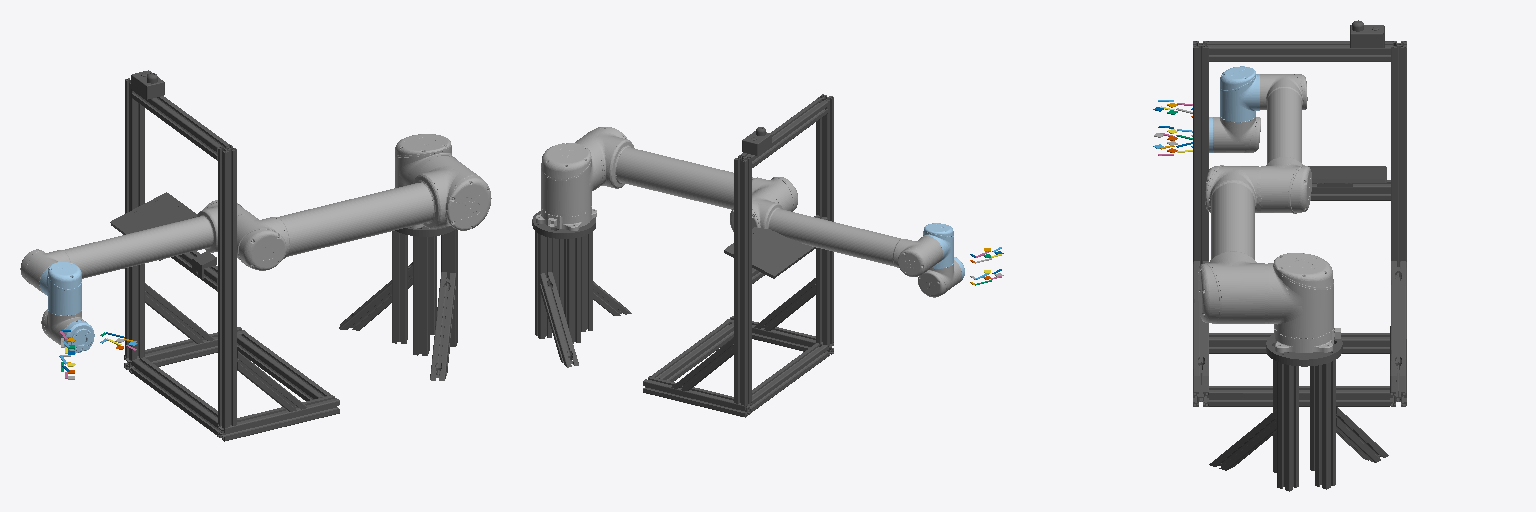
--- Facts derived from the render (not from the file) ---
Views: 3 orthographic renders of the robot side by side, from view 1: azimuth 30°, elevation 25°; view 2: azimuth 150°, elevation 25°; view 3: azimuth 270°, elevation 25°.
Model thing with 67 links and 66 joints (45 revolute, 4 continuous, 17 fixed), rooted at base_link, posed every joint at zero.
Visible links, largest first — view 1: arch_link, upper_arm_link, forearm_link, shoulder_link, wrist_1_link, wrist_3_link, wrist_2_link; view 2: arch_link, upper_arm_link, forearm_link, shoulder_link, wrist_2_link, wrist_1_link, ur10_base_link; view 3: arch_link, upper_arm_link, forearm_link, shoulder_link, wrist_1_link, wrist_2_link, ur10_base_link.
Link boxes in pixels (x1,y1,x2,y2): arch_link: (110, 70, 457, 441); upper_arm_link: (237, 156, 491, 270); forearm_link: (20, 200, 253, 292); shoulder_link: (395, 134, 456, 187); wrist_1_link: (40, 262, 81, 315); wrist_3_link: (62, 320, 94, 353); wrist_2_link: (41, 309, 85, 344); arch_link: (532, 94, 833, 417); upper_arm_link: (575, 127, 797, 211); forearm_link: (730, 191, 942, 276); shoulder_link: (541, 143, 602, 216); wrist_2_link: (918, 260, 961, 297); wrist_1_link: (921, 223, 953, 268); ur10_base_link: (535, 208, 596, 230); arch_link: (1193, 20, 1406, 491); upper_arm_link: (1198, 165, 1268, 323); forearm_link: (1257, 74, 1311, 213); shoulder_link: (1269, 253, 1333, 338); wrist_1_link: (1220, 66, 1259, 122); wrist_2_link: (1213, 117, 1260, 152); ur10_base_link: (1274, 328, 1340, 352).
Size in the robot's own frame: 1.39 by 0.6293 by 0.9 metres.
8 mesh visuals loaded from 21 distinct referenced files (1 binary STL, 7 OBJ); not drawn: 28 (reference not matched to a file when rendering).

robot.urdf — thing:
<?xml version="1.0" ?>
<!-- =================================================================================== -->
<!-- |    This document was autogenerated by xacro from ridgeback.urdf.xacro           | -->
<!-- |    EDITING THIS FILE BY HAND IS NOT RECOMMENDED                                 | -->
<!-- =================================================================================== -->
<robot name="thing" xmlns:xacro="http://ros.org/wiki/xacro">
  <material name="dark_grey">
    <color rgba="0.2 0.2 0.2 1.0"/>
  </material>
  <material name="light_grey">
    <color rgba="0.4 0.4 0.4 1.0"/>
  </material>
  <material name="red">
    <color rgba="0.8 0.0 0.0 1.0"/>
  </material>
  <material name="white">
    <color rgba="0.9 0.9 0.9 1.0"/>
  </material>
  <material name="yellow">
    <color rgba="0.8 0.8 0.0 1.0"/>
  </material>
  <material name="black">
    <color rgba="0.15 0.15 0.15 1.0"/>
  </material>

  <!-- Ridgeback wheels -->
  <link name="front_rocker_link">
    <visual>
      <origin rpy="1.57079632679 0 1.57079632679" xyz="0 0 0"/>
      <geometry>
        <mesh filename="assets/ridgeback_description/meshes/rocker.stl"/>
      </geometry>
      <material name="black"/>
    </visual>
    <inertial>
      <origin rpy="1.57079632679 0 1.57079632679" xyz="0 0 0"/>
      <mass value="10.267"/>
      <inertia ixx="0.0288" ixy="2.20484e-6" ixz="-1.3145e-5" iyy="0.4324" iyz="1.8944e-3" izz="0.4130"/>
    </inertial>
  </link>
  <joint name="front_rocker" type="fixed">
    <parent link="axle_link"/>
    <child link="front_rocker_link"/>
    <origin rpy="0 0 0" xyz="0.319 0 0"/>
    <axis xyz="1 0 0"/>
    <limit effort="0" lower="-0.08726" upper="0.08726" velocity="0"/>
  </joint>
  <link name="front_left_wheel_link">
    <contact>
      <lateral_friction value="1.0"/>
      <rolling_friction value="0.0"/>
      <stiffness value="30000"/>
      <damping value="10000"/>
    </contact>
    <inertial>
      <origin rpy="0 0 0" xyz="0 0 0"/>
      <mass value="2.637"/>
      <!--<inertia ixx="3.3212e-3" ixy="0" ixz="0" iyy="6.6424e-3" iyz="0" izz="3.3212e-3"/>-->
      <inertia ixx="0.02467" ixy="0" ixz="0" iyy="0.02467" iyz="0" izz="0.04411"/>
    </inertial>
    <visual>
      <origin rpy="1.57079632679 0 0" xyz="0 0 0"/>
      <geometry>
        <mesh filename="assets/ridgeback_description/meshes/wheel.stl"/>
      </geometry>
      <material name="black"/>
    </visual>
    <collision>
      <origin rpy="1.57079632679 0 0" xyz="0 0 0"/>
      <geometry>
        <cylinder length="0.079" radius="0.0759"/>
      </geometry>
    </collision>
  </link>
  <joint name="front_left_wheel" type="continuous">
    <parent link="front_rocker_link"/>
    <child link="front_left_wheel_link"/>
    <origin rpy="0 0 0" xyz="0 0.2755 0"/>
    <axis xyz="0 1 0"/>
  </joint>
  <transmission name="front_wheel_trans">
    <type>transmission_interface/SimpleTransmission</type>
    <joint name="front_left_wheel">
      <hardwareInterface>hardware_interface/VelocityJointInterface</hardwareInterface>
    </joint>
    <actuator name="front_left_actuator">
      <mechanicalReduction>1</mechanicalReduction>
    </actuator>
  </transmission>
  <link name="front_right_wheel_link">
    <contact>
      <lateral_friction value="1.0"/>
      <rolling_friction value="0.0"/>
      <stiffness value="30000"/>
      <damping value="10000"/>
    </contact>
    <inertial>
      <origin rpy="0 0 0" xyz="0 0 0"/>
      <mass value="2.637"/>
      <!--<inertia ixx="3.3212e-3" ixy="0" ixz="0" iyy="6.6424e-3" iyz="0" izz="3.3212e-3"/>-->
      <inertia ixx="0.02467" ixy="0" ixz="0" iyy="0.02467" iyz="0" izz="0.04411"/>
    </inertial>
    <visual>
      <origin rpy="1.57079632679 0 0" xyz="0 0 0"/>
      <geometry>
        <mesh filename="assets/ridgeback_description/meshes/wheel.stl"/>
      </geometry>
      <material name="black"/>
    </visual>
    <collision>
      <origin rpy="1.57079632679 0 0" xyz="0 0 0"/>
      <geometry>
        <cylinder length="0.079" radius="0.0759"/>
      </geometry>
    </collision>
  </link>
  <joint name="front_right_wheel" type="continuous">
    <parent link="front_rocker_link"/>
    <child link="front_right_wheel_link"/>
    <origin rpy="0 0 0" xyz="0 -0.2755 0"/>
    <axis xyz="0 1 0"/>
  </joint>
  <transmission name="front_wheel_trans">
    <type>transmission_interface/SimpleTransmission</type>
    <joint name="front_right_wheel">
      <hardwareInterface>hardware_interface/VelocityJointInterface</hardwareInterface>
    </joint>
    <actuator name="front_right_actuator">
      <mechanicalReduction>1</mechanicalReduction>
    </actuator>
  </transmission>
  <link name="rear_rocker_link">
    <visual>
      <origin rpy="1.57079632679 0 1.57079632679" xyz="0 0 0"/>
      <geometry>
        <mesh filename="assets/ridgeback_description/meshes/rocker.stl"/>
      </geometry>
      <material name="black"/>
    </visual>
    <inertial>
      <origin rpy="1.57079632679 0 1.57079632679" xyz="0 0 0"/>
      <mass value="10.267"/>
      <inertia ixx="0.0288" ixy="2.20484e-6" ixz="-1.3145e-5" iyy="0.4324" iyz="1.8944e-3" izz="0.4130"/>
    </inertial>
  </link>
  <joint name="rear_rocker" type="fixed">
    <parent link="axle_link"/>
    <child link="rear_rocker_link"/>
    <origin rpy="0 0 0" xyz="-0.319 0 0"/>
    <axis xyz="1 0 0"/>
    <limit effort="0" velocity="0"/>
  </joint>
  <link name="rear_left_wheel_link">
    <contact>
      <lateral_friction value="1.0"/>
      <rolling_friction value="0.0"/>
      <stiffness value="30000"/>
      <damping value="10000"/>
    </contact>
    <inertial>
      <origin rpy="0 0 0" xyz="0 0 0"/>
      <mass value="2.637"/>
      <!--<inertia ixx="3.3212e-3" ixy="0" ixz="0" iyy="6.6424e-3" iyz="0" izz="3.3212e-3"/>-->
      <inertia ixx="0.02467" ixy="0" ixz="0" iyy="0.02467" iyz="0" izz="0.04411"/>
    </inertial>
    <visual>
      <origin rpy="1.57079632679 0 0" xyz="0 0 0"/>
      <geometry>
        <mesh filename="assets/ridgeback_description/meshes/wheel.stl"/>
      </geometry>
      <material name="black"/>
    </visual>
    <collision>
      <origin rpy="1.57079632679 0 0" xyz="0 0 0"/>
      <geometry>
        <cylinder length="0.079" radius="0.0759"/>
      </geometry>
    </collision>
  </link>
  <joint name="rear_left_wheel" type="continuous">
    <parent link="rear_rocker_link"/>
    <child link="rear_left_wheel_link"/>
    <origin rpy="0 0 0" xyz="0 0.2755 0"/>
    <axis xyz="0 1 0"/>
  </joint>
  <transmission name="rear_wheel_trans">
    <type>transmission_interface/SimpleTransmission</type>
    <joint name="rear_left_wheel">
      <hardwareInterface>hardware_interface/VelocityJointInterface</hardwareInterface>
    </joint>
    <actuator name="rear_left_actuator">
      <mechanicalReduction>1</mechanicalReduction>
    </actuator>
  </transmission>
  <link name="rear_right_wheel_link">
    <contact>
      <lateral_friction value="1.0"/>
      <rolling_friction value="0.0"/>
      <stiffness value="30000"/>
      <damping value="10000"/>
    </contact>
    <inertial>
      <origin rpy="0 0 0" xyz="0 0 0"/>
      <mass value="2.637"/>
      <!--<inertia ixx="3.3212e-3" ixy="0" ixz="0" iyy="6.6424e-3" iyz="0" izz="3.3212e-3"/>-->
      <inertia ixx="0.02467" ixy="0" ixz="0" iyy="0.02467" iyz="0" izz="0.04411"/>
    </inertial>
    <visual>
      <origin rpy="1.57079632679 0 0" xyz="0 0 0"/>
      <geometry>
        <mesh filename="assets/ridgeback_description/meshes/wheel.stl"/>
      </geometry>
      <material name="black"/>
    </visual>
    <collision>
      <origin rpy="1.57079632679 0 0" xyz="0 0 0"/>
      <geometry>
        <cylinder length="0.079" radius="0.0759"/>
      </geometry>
    </collision>
  </link>
  <joint name="rear_right_wheel" type="continuous">
    <parent link="rear_rocker_link"/>
    <child link="rear_right_wheel_link"/>
    <origin rpy="0 0 0" xyz="0 -0.2755 0"/>
    <axis xyz="0 1 0"/>
  </joint>
  <transmission name="rear_wheel_trans">
    <type>transmission_interface/SimpleTransmission</type>
    <joint name="rear_right_wheel">
      <hardwareInterface>hardware_interface/VelocityJointInterface</hardwareInterface>
    </joint>
    <actuator name="rear_right_actuator">
      <mechanicalReduction>1</mechanicalReduction>
    </actuator>
  </transmission>
  <link name="base_link"/>
  <joint name="base_link_joint" type="fixed">
    <origin rpy="0 0 0" xyz="0 0 0"/>
    <parent link="base_link"/>
    <child link="chassis_link"/>
  </joint>
  <link name="chassis_link">
    <visual>
      <origin rpy="0 0 0" xyz="0 0 0"/>
      <geometry>
        <mesh filename="assets/ridgeback_description/meshes/body.stl"/>
      </geometry>
      <material name="black"/>
    </visual>
    <collision>
      <origin xyz="0 0 0"/>
      <geometry>
        <mesh filename="assets/ridgeback_description/meshes/body-collision.stl"/>
      </geometry>
    </collision>
    <inertial>
      <origin rpy="1.57079632679 0 1.57079632679" xyz="0.012 0.002 0.067"/>
      <mass value="165.304"/>
      <inertia ixx="4.4744" ixy="0.03098" ixz="0.003647" iyy="7.1624" iyz="0.1228" izz="4.6155"/>
    </inertial>
  </link>
  <joint name="right_side_cover_link_joint" type="fixed">
    <origin rpy="0 0 0" xyz="0 0 0"/>
    <parent link="chassis_link"/>
    <child link="right_side_cover_link"/>
  </joint>
  <joint name="left_side_cover_link_joint" type="fixed">
    <origin rpy="0 0 0" xyz="0 0 0"/>
    <parent link="chassis_link"/>
    <child link="left_side_cover_link"/>
  </joint>
  <link name="left_side_cover_link">
    <visual>
      <origin rpy="0 0 3.14159265359" xyz="0 0 0"/>
      <geometry>
        <mesh filename="assets/ridgeback_description/meshes/side-cover.stl"/>
      </geometry>
      <material name="yellow"/>
    </visual>
  </link>
  <link name="right_side_cover_link">
    <visual>
      <origin rpy="0 0 0" xyz="0 0 0"/>
      <geometry>
        <mesh filename="assets/ridgeback_description/meshes/side-cover.stl"/>
      </geometry>
      <material name="yellow"/>
    </visual>
  </link>
  <joint name="front_cover_link_joint" type="fixed">
    <origin rpy="0 0 0" xyz="0 0 0"/>
    <parent link="chassis_link"/>
    <child link="front_cover_link"/>
  </joint>
  <link name="front_cover_link">
    <visual>
      <origin rpy="0 0 0" xyz="0 0 0"/>
      <geometry>
        <mesh filename="assets/ridgeback_description/meshes/end-cover.stl"/>
      </geometry>
      <material name="black"/>
    </visual>
  </link>
  <joint name="rear_cover_link_joint" type="fixed">
    <origin rpy="0 0 0" xyz="0 0 0"/>
    <parent link="chassis_link"/>
    <child link="rear_cover_link"/>
  </joint>
  <link name="rear_cover_link">
    <visual>
      <origin rpy="0 0 3.14159265359" xyz="0 0 0"/>
      <geometry>
        <mesh filename="assets/ridgeback_description/meshes/end-cover.stl"/>
      </geometry>
      <material name="black"/>
    </visual>
  </link>
  <joint name="front_lights_link_joint" type="fixed">
    <origin rpy="0 0 0" xyz="0 0 0"/>
    <parent link="chassis_link"/>
    <child link="front_lights_link"/>
  </joint>
  <joint name="rear_lights_link_joint" type="fixed">
    <origin rpy="0 0 0" xyz="0 0 0"/>
    <parent link="chassis_link"/>
    <child link="rear_lights_link"/>
  </joint>
  <link name="front_lights_link">
    <visual>
      <origin rpy="0 0 0" xyz="0 0 0"/>
      <geometry>
        <mesh filename="assets/ridgeback_description/meshes/lights.stl"/>
      </geometry>
      <material name="white"/>
    </visual>
  </link>
  <link name="rear_lights_link">
    <visual>
      <origin rpy="0 0 3.14159265359" xyz="0 0 0"/>
      <geometry>
        <mesh filename="assets/ridgeback_description/meshes/lights.stl"/>
      </geometry>
      <material name="red"/>
    </visual>
  </link>
  <joint name="top_link_joint" type="fixed">
    <origin rpy="0 0 0" xyz="0 0 0"/>
    <parent link="chassis_link"/>
    <child link="top_link"/>
  </joint>
  <link name="top_link">
    <visual>
      <origin rpy="0 0 0" xyz="0 0 0"/>
      <geometry>
        <mesh filename="assets/ridgeback_description/meshes/top.stl"/>
      </geometry>
      <material name="black"/>
    </visual>
    <collision>
      <origin rpy="0 0 0" xyz="0 0 0"/>
      <geometry>
        <mesh filename="assets/ridgeback_description/meshes/top.stl"/>
      </geometry>
    </collision>
  </link>
  <joint name="axle_joint" type="fixed">
    <origin rpy="0 0 0" xyz="0 0 0.05"/>
    <parent link="chassis_link"/>
    <child link="axle_link"/>
  </joint>
  <link name="axle_link">
    <visual>
      <origin rpy="0 1.57079632679 0" xyz="0 0 0"/>
      <geometry>
        <mesh filename="assets/ridgeback_description/meshes/axle.stl"/>
      </geometry>
      <material name="black"/>
    </visual>
  </link>
  <link name="imu_link">
    <inertial>
      <mass value="0.001"/>
      <origin rpy="0 0 0" xyz="0 0 0"/>
      <inertia ixx="1e-09" ixy="0.0" ixz="0.0" iyy="1e-09" iyz="0.0" izz="1e-09"/>
    </inertial>
  </link>
  <joint name="imu_joint" type="fixed">
    <parent link="chassis_link"/>
    <child link="imu_link"/>
    <origin rpy="0 0 0" xyz="0.2085 -0.2902 0.1681"/>
  </joint>
  <link name="mid_mount"/>
  <joint name="mid_mount_joint" type="fixed">
    <parent link="base_link"/>
    <child link="mid_mount"/>
    <origin rpy="0 0 0" xyz="0 0 0.28"/>
  </joint>

  <link name="arch_link">
  <visual>
    <origin rpy="1.570795 0 0" xyz="0.0 0.0 0.0"/>
    <geometry>
      <mesh filename="assets/ridgeback_description/meshes/tor11_mech.stl" />
    </geometry>
    <material name="light_grey"/>
  </visual>
  <collision>
    <origin rpy="1.570795 0 0" xyz="0.0 0.0 0.0"/>
    <geometry>
      <mesh filename="assets/ridgeback_description/meshes/tor11_mech.stl" />
    </geometry>
  </collision>
 </link>

<joint name="arch_joint" type="fixed">
  <origin xyz="0 0 0.278" rpy="0 0 1.57" />
  <parent link="top_link" />
  <child link="arch_link" />
</joint>

<!-- Join arm and arch link -->
<joint name="ur10_arm_base" type="fixed">
  <parent link="arch_link" />
  <child link="ur10_base_link" />
  <origin xyz="0.01 -0.27 0.375" rpy="0.0 0.0 1.570796" />
</joint>

<!-- common stuff -->
<material name="blackish">
  <color rgba="0.2 0.2 0.2 1"/>
</material>
<material name="LightGrey">
  <color rgba="0.7 0.7 0.7 1.0"/>
</material>
<material name="LightBlue">
  <color rgba="0.670 0.815 0.921 1.0"/>
</material>

<link name="ur10_base_link">
  <visual>
    <origin xyz="0 0 0" rpy="1.57 0 0"/>
    <geometry>
      <mesh filename="assets/ur_description/meshes/ur10/visual/Base.obj"/>
    </geometry>
    <material name="LightGrey"/>
  </visual>
  <collision>
    <geometry>
      <mesh filename="assets/ur_description/meshes/ur10/collision/base.stl"/>
    </geometry>
  </collision>
  <inertial>
    <mass value="4.0"/>
    <origin rpy="0 0 0" xyz="0.0 0.0 0.0"/>
    <inertia ixx="0.0061063308908" ixy="0.0" ixz="0.0" iyy="0.0061063308908" iyz="0.0" izz="0.01125"/>
  </inertial>
</link>
<joint name="shoulder_pan_joint" type="revolute">
  <parent link="ur10_base_link"/>
  <child link="shoulder_link"/>
  <origin rpy="0.0 0.0 0.0" xyz="0.0 0.0 0.1273"/>
  <axis xyz="0 0 1"/>
  <limit effort="330.0" lower="-6.2831853" upper="6.2831853" velocity="2.16"/>
  <dynamics damping="0.0" friction="0.0"/>
</joint>
<link name="shoulder_link">
  <visual>
    <origin xyz="0 0 0" rpy="1.57 0 0"/>
    <geometry>
      <mesh filename="assets/ur_description/meshes/ur10/visual/Shoulder.obj"/>
    </geometry>
    <material name="LightGrey"/>
  </visual>
  <collision>
    <geometry>
      <mesh filename="assets/ur_description/meshes/ur10/collision/shoulder.stl"/>
    </geometry>
  </collision>
  <inertial>
    <mass value="7.778"/>
    <origin rpy="0 0 0" xyz="0.0 0.0 0.0"/>
    <inertia ixx="0.0314743125769" ixy="0.0" ixz="0.0" iyy="0.0314743125769" iyz="0.0" izz="0.021875625"/>
  </inertial>
</link>
<joint name="shoulder_lift_joint" type="revolute">
  <parent link="shoulder_link"/>
  <child link="upper_arm_link"/>
  <origin rpy="0.0 1.570796325 0.0" xyz="0.0 0.220941 0.0"/>
  <axis xyz="0 1 0"/>
  <limit effort="330.0" lower="-6.2831853" upper="6.2831853" velocity="2.16"/>
  <dynamics damping="0.0" friction="0.0"/>
</joint>
<link name="upper_arm_link">
  <visual>
    <origin xyz="0 0 0" rpy="1.57 0 0"/>
    <geometry>
      <mesh filename="assets/ur_description/meshes/ur10/visual/UpperArm.obj"/>
    </geometry>
    <material name="LightGrey"/>
  </visual>
  <collision>
    <geometry>
      <mesh filename="assets/ur_description/meshes/ur10/collision/upper_arm.stl"/>
    </geometry>
  </collision>
  <inertial>
    <mass value="12.93"/>
    <origin rpy="0 0 0" xyz="0.0 0.0 0.306"/>
    <inertia ixx="0.421753803798" ixy="0.0" ixz="0.0" iyy="0.421753803798" iyz="0.0" izz="0.036365625"/>
  </inertial>
</link>
<joint name="elbow_joint" type="revolute">
  <parent link="upper_arm_link"/>
  <child link="forearm_link"/>
  <origin rpy="0.0 0.0 0.0" xyz="0.0 -0.1719 0.612"/>
  <axis xyz="0 1 0"/>
  <limit effort="150.0" lower="-6.2831853" upper="6.2831853" velocity="3.15"/>
  <dynamics damping="0.0" friction="0.0"/>
</joint>
<link name="forearm_link">
  <visual>
    <origin xyz="0 0 0" rpy="1.57 0 0"/>
    <geometry>
      <mesh filename="assets/ur_description/meshes/ur10/visual/Forearm.obj"/>
    </geometry>
    <material name="LightGrey"/>
  </visual>
  <collision>
    <geometry>
      <mesh filename="assets/ur_description/meshes/ur10/collision/forearm.stl"/>
    </geometry>
  </collision>
  <inertial>
    <mass value="3.87"/>
    <origin rpy="0 0 0" xyz="0.0 0.0 0.28615"/>
    <inertia ixx="0.111069694097" ixy="0.0" ixz="0.0" iyy="0.111069694097" iyz="0.0" izz="0.010884375"/>
  </inertial>
</link>
<joint name="wrist_1_joint" type="revolute">
  <parent link="forearm_link"/>
  <child link="wrist_1_link"/>
  <origin rpy="0.0 1.570796325 0.0" xyz="0.0 0.0 0.5723"/>
  <axis xyz="0 1 0"/>
  <limit effort="54.0" lower="-6.2831853" upper="6.2831853" velocity="3.2"/>
  <dynamics damping="0.0" friction="0.0"/>
</joint>
<link name="wrist_1_link">
  <visual>
    <origin xyz="0 0 0" rpy="1.57 0 0"/>
    <geometry>
      <mesh filename="assets/ur_description/meshes/ur10/visual/Wrist1.obj"/>
    </geometry>
    <material name="LightBlue"/>
  </visual>
  <collision>
    <geometry>
      <mesh filename="assets/ur_description/meshes/ur10/collision/wrist_1.stl"/>
    </geometry>
  </collision>
  <inertial>
    <mass value="1.96"/>
    <origin rpy="0 0 0" xyz="0.0 0.0 0.0"/>
    <inertia ixx="0.0051082479567" ixy="0.0" ixz="0.0" iyy="0.0051082479567" iyz="0.0" izz="0.0055125"/>
  </inertial>
</link>
<joint name="wrist_2_joint" type="revolute">
  <parent link="wrist_1_link"/>
  <child link="wrist_2_link"/>
  <origin rpy="0.0 0.0 0.0" xyz="0.0 0.1149 0.0"/>
  <axis xyz="0 0 1"/>
  <limit effort="54.0" lower="-6.2831853" upper="6.2831853" velocity="3.2"/>
  <dynamics damping="0.0" friction="0.0"/>
</joint>
<link name="wrist_2_link">
  <visual>
    <origin xyz="0 0 0" rpy="1.57 0 0"/>
    <geometry>
      <mesh filename="assets/ur_description/meshes/ur10/visual/Wrist2.obj"/>
    </geometry>
    <material name="LightGrey"/>
  </visual>
  <collision>
    <geometry>
      <mesh filename="assets/ur_description/meshes/ur10/collision/wrist_2.stl"/>
    </geometry>
  </collision>
  <inertial>
    <mass value="1.96"/>
    <origin rpy="0 0 0" xyz="0.0 0.0 0.0"/>
    <inertia ixx="0.0051082479567" ixy="0.0" ixz="0.0" iyy="0.0051082479567" iyz="0.0" izz="0.0055125"/>
  </inertial>
</link>
<joint name="wrist_3_joint" type="revolute">
  <parent link="wrist_2_link"/>
  <child link="wrist_3_link"/>
  <origin rpy="0.0 0.0 0.0" xyz="0.0 0.0 0.1157"/>
  <axis xyz="0 1 0"/>
  <limit effort="54.0" lower="-6.2831853" upper="6.2831853" velocity="3.2"/>
  <dynamics damping="0.0" friction="0.0"/>
</joint>
<link name="wrist_3_link">
  <visual>
    <origin xyz="0 0 0" rpy="1.57 0 0"/>
    <geometry>
      <mesh filename="assets/ur_description/meshes/ur10/visual/Wrist3.obj"/>
    </geometry>
    <material name="LightBlue"/>
  </visual>
  <collision>
    <geometry>
      <mesh filename="assets/ur_description/meshes/ur10/collision/wrist_3.stl"/>
    </geometry>
  </collision>
  <inertial>
    <mass value="0.202"/>
    <origin rpy="0 0 0" xyz="0.0 0.0 0.0"/>
    <inertia ixx="0.000526462289415" ixy="0.0" ixz="0.0" iyy="0.000526462289415" iyz="0.0" izz="0.000568125"/>
  </inertial>
</link>
<joint name="ee_fixed_joint" type="fixed">
  <parent link="wrist_3_link"/>
  <child link="ee_link"/>
  <origin rpy="0.0 0.0 0.0" xyz="0.0 0.0922 0.0"/>
</joint>
<link name="ee_link">
  <collision>
    <geometry>
      <box size="0.01 0.01 0.01"/>
    </geometry>
    <origin rpy="0 0 0" xyz="-0.01 0 0"/>
  </collision>
</link>

<!-- Gripper -->
  <joint name="robotiq_hand_joint" type="fixed">
   <x>4.5&gt;</x> 
   <parent link="ee_link"/> 
    <child link="palm"/>
  </joint>
  <!-- Insert the fingers -->
  <!-- Link list -->
  <!-- Link 0 -->
  <link name="finger_1_link_0">
    <visual>
      <origin rpy="0 0 0" xyz="0 0 0"/>
      <geometry>
        <mesh filename="package://robotiq_s_model_visualization/meshes/s-model_articulated/visual/link_0.STL"/>
      </geometry>
      <material name="green">
        <color rgba="0 1 0 1"/>
      </material>
    </visual>
    <collision>
      <origin rpy="0 0 0" xyz="0 0 0"/>
      <geometry>
        <mesh filename="package://robotiq_s_model_visualization/meshes/s-model_articulated/collision/link_0.STL"/>
      </geometry>
      <material name="yellow">
        <color rgba="0 1 1 1"/>
      </material>
    </collision>
    <inertial>
      <mass value="0.1"/>
      <origin xyz="-0.01 0 0"/>
      <inertia ixx="0.000018" ixy="0" ixz="0" iyy="0.000025" iyz="0" izz="0.000025"/>
    </inertial>
  </link>
  <gazebo reference="finger_1_link_0">
    <mu1>1.1</mu1>
    <mu2>1.1</mu2>
  </gazebo>
  <!-- Link 1 -->
  <link name="finger_1_link_1">
    <visual>
      <origin rpy="0 0 1.5708" xyz="0 0.05717 0"/>
      <geometry>
        <mesh filename="package://robotiq_s_model_visualization/meshes/s-model_articulated/visual/link_1.STL"/>
      </geometry>
      <material name="green"/>
    </visual>
    <collision>
      <origin rpy="0 0 1.5708" xyz="0 0.05717 0"/>
      <geometry>
        <mesh filename="package://robotiq_s_model_visualization/meshes/s-model_articulated/collision/link_1.STL"/>
      </geometry>
      <material name="yellow">
        <color rgba="0 1 1 1"/>
      </material>
    </collision>
    <inertial>
      <origin rpy="0 0 1.5708" xyz="0.00053 0.03218 0"/>
      <mass value="0.047"/>
      <inertia ixx="0.00000499332" ixy="0.00000091312" ixz="-0.00000000120" iyy="0.00006434531" iyz="-0.00000000007" izz="0.00006061917"/>
    </inertial>
  </link>
  <gazebo reference="finger_1_link_1">
    <mu1>1.1</mu1>
    <mu2>1.1</mu2>
  </gazebo>
  <!-- Link 2 -->
  <link name="finger_1_link_2">
    <visual>
      <origin rpy="0 0 1.5708" xyz="0 0.03810 0.0075"/>
      <geometry>
        <mesh filename="package://robotiq_s_model_visualization/meshes/s-model_articulated/visual/link_2.STL"/>
      </geometry>
      <material name="green"/>
    </visual>
    <collision>
      <origin rpy="0 0 1.5708" xyz="0 0.03810 0.0075"/>
      <geometry>
        <mesh filename="package://robotiq_s_model_visualization/meshes/s-model_articulated/collision/link_2.STL"/>
      </geometry>
      <material name="yellow"/>
    </collision>
    <inertial>
      <origin rpy="0 0 1.5708" xyz="0.00048 0.02167 0.00018"/>
      <mass value="0.03284"/>
      <inertia ixx="0.00000348008" ixy="0.00000031940" ixz="0.00000013041" iyy="0.00002248123" iyz="0.00000000291" izz="0.00001986346"/>
    </inertial>
  </link>
  <gazebo reference="finger_1_link_2">
    <mu1>1.1</mu1>
    <mu2>1.1</mu2>
  </gazebo>
  <!-- Link 3 -->
  <link name="finger_1_link_3">
    <visual>
      <origin rpy="0 0 0" xyz="0 0 0"/>
      <geometry>
        <mesh filename="package://robotiq_s_model_visualization/meshes/s-model_articulated/visual/link_3.STL"/>
      </geometry>
      <material name="green"/>
    </visual>
    <collision>
      <origin rpy="0 0 0" xyz="0 0 0"/>
      <geometry>
        <mesh filename="package://robotiq_s_model_visualization/meshes/s-model_articulated/collision/link_3.STL"/>
      </geometry>
      <material name="yellow"/>
    </collision>
    <inertial>
      <origin rpy="0 0 0" xyz="0.01626 0.00049 0.0002"/>
      <mass value="0.03354"/>
      <inertia ixx="0.00000305151" ixy="0.00000089792" ixz="0.00000000249" iyy="0.00001427978" iyz="-0.00000001191" izz="0.00001264126"/>
    </inertial>
  </link>
  <gazebo reference="finger_1_link_3">
    <mu1>1.1</mu1>
    <mu2>1.1</mu2>
  </gazebo>
  <!-- Link proximal actuating hinge -->
  <link name="finger_1_link_proximal_actuating_hinge">
    <visual>
      <origin rpy="0 0 0" xyz="0.01429 0 0"/>
      <geometry>
        <box size="0.02858 .0075 .002"/>
      </geometry>
    </visual>
    <collision>
      <origin rpy="0 0 0" xyz="0.01429 0 0"/>
      <geometry>
        <box size="0.02858 .0075 .002"/>
      </geometry>
    </collision>
    <inertial>
      <origin rpy="0 0 0" xyz="0.0012 -0.00162 -0.00161"/>
      <mass value="0.02647"/>
      <inertia ixx="0.00000156447" ixy="0.000000236226" ixz="-0.00000014862" iyy="0.00000221068" iyz="-0.00000014369" izz="0.00000323175"/>
    </inertial>
  </link>
  <gazebo reference="finger_1_link_proximal_actuating_hinge">
    <mu1>1.1</mu1>
    <mu2>1.1</mu2>
  </gazebo>
  <!-- Link paraproximal actuating hinge -->
  <link name="finger_1_link_paraproximal_actuating_hinge">
    <visual>
      <origin rpy="0 0 0" xyz="0.01143 0 0"/>
      <geometry>
        <box size="0.02286 .0075 .002"/>
      </geometry>
    </visual>
    <collision>
      <origin rpy="0 0 0" xyz="0.01143 0 0"/>
      <geometry>
        <box size="0.02286 .0075 .002"/>
      </geometry>
    </collision>
    <inertial>
      <origin rpy="0 0 0" xyz="0.0064 0 0"/>
      <!-- copied from proximal_actuating_hinge -->
      <mass value="0.00362"/>
      <inertia ixx="0.00000012043" ixy="0" ixz="0" iyy="0.00000053588" iyz="0" izz="0.00000065322"/>
    </inertial>
  </link>
  <gazebo reference="finger_1_link_paraproximal_actuating_hinge">
    <mu1>1.1</mu1>
    <mu2>1.1</mu2>
  </gazebo>
  <!-- Link proximal actuating bar -->
  <link name="finger_1_link_proximal_actuating_bar">
    <visual>
      <origin rpy="0 0 0" xyz="0.026789 0 0"/>
      <geometry>
        <box size="0.05398 .0075 .002"/>
      </geometry>
    </visual>
    <collision>
      <origin rpy="0 0 0" xyz="0.026789 0 0"/>
      <geometry>
        <box size="0.05398 .0075 .002"/>
      </geometry>
    </collision>
    <inertial>
      <origin rpy="0 0 0" xyz="0.02699 -0.00122 0"/>
      <mass value="0.00659"/>
      <inertia ixx="0.00000008348" ixy="-0.0000002179" ixz="0.00000000134" iyy="0.00000719076" iyz="0" izz="0.00000718272"/>
    </inertial>
  </link>
  <gazebo reference="finger_1_link_proximal_actuating_bar">
    <mu1>1.1</mu1>
    <mu2>1.1</mu2>
  </gazebo>
  <!-- Link paraproximal bar -->
  <link name="finger_1_link_paraproximal_bar">
    <visual>
      <origin rpy="0 0 0" xyz="0.02885 0 0"/>
      <geometry>
        <box size="0.05770 .0075 .002"/>
      </geometry>
    </visual>
    <collision>
      <origin rpy="0 0 0" xyz="0.02885 0 0"/>
      <geometry>
        <box size="0.05770 .0075 .002"/>
      </geometry>
    </collision>
    <inertial>
      <origin rpy="0 0 0" xyz="0.02858 -0.00129 0"/>
      <mass value="0.00732"/>
      <inertia ixx="0.00000009065" ixy="-0.00000027047" ixz="0.00000000142" iyy="0.00000878034" iyz="0" izz="0.00000877558"/>
    </inertial>
  </link>
  <gazebo reference="finger_1_link_paraproximal_bar">
    <mu1>1.1</mu1>
    <mu2>1.1</mu2>
  </gazebo>
  <!-- Link median actuating hinge -->
  <link name="finger_1_link_median_actuating_hinge">
    <visual>
      <origin rpy="0 0 0" xyz="0 0 0"/>
      <geometry>
        <box size=".02 .02 .002"/>
      </geometry>
    </visual>
    <collision>
      <origin rpy="0 0 0" xyz="0 0 0"/>
      <geometry>
        <box size=".02 .02 .002"/>
      </geometry>
    </collision>
    <inertial>
      <origin rpy="0 0 0" xyz="0.0092 0.00514 0"/>
      <mass value="0.00359"/>
      <inertia ixx="0.00000024735" ixy="0.00000023619" ixz="0" iyy="0.00000047681" iyz="0" izz="0.00000071813"/>
    </inertial>
  </link>
  <gazebo reference="finger_1_link_median_actuating_hinge">
    <mu1>1.1</mu1>
    <mu2>1.1</mu2>
  </gazebo>
  <!-- Link median bar -->
  <link name="finger_1_link_median_bar">
    <visual>
      <origin rpy="0 0 0" xyz="0.01905 0 0"/>
      <geometry>
        <box size="0.0381 .0075 .002"/>
      </geometry>
    </visual>
    <collision>
      <origin rpy="0 0 0" xyz="0.01905 0 0"/>
      <geometry>
        <box size="0.0381 .0075 .002"/>
      </geometry>
    </collision>
    <inertial>
      <origin rpy="0 0 0" xyz="0.01905 -0.00107 0"/>
      <mass value="0.00538"/>
      <inertia ixx="0.00000006639" ixy="-0.00000010996" ixz="0.00000000094" iyy="0.00000305318" iyz="0" izz="0.00000304657"/>
    </inertial>
  </link>
  <gazebo reference="finger_1_link_median_bar">
    <mu1>1.1</mu1>
    <mu2>1.1</mu2>
  </gazebo>
  <!-- Link paramedian hinge -->
  <link name="finger_1_link_paramedian_hinge">
    <visual>
      <origin rpy="0 0 0" xyz="0 0 0"/>
      <geometry>
        <box size=".02 .02 .002"/>
      </geometry>
    </visual>
    <collision>
      <origin rpy="0 0 0" xyz="0 0 0"/>
      <geometry>
        <box size=".02 .02 .002"/>
      </geometry>
    </collision>
    <inertial>
      <origin rpy="0 0 0" xyz="-0.01025 0.00046 0"/>
      <mass value="0.00276"/>
      <inertia ixx="0.00000004213" ixy="-0.00000001491" ixz="0" iyy="0.00000050258" iyz="0" izz="0.00000054007"/>
    </inertial>
  </link>
  <gazebo reference="finger_1_link_paramedian_hinge">
    <mu1>1.1</mu1>
    <mu2>1.1</mu2>
  </gazebo>
  <!-- Link median bar underactuated -->
  <link name="finger_1_link_median_bar_underactuated">
    <visual>
      <origin rpy="0 0 0" xyz="0.01905 0 0"/>
      <geometry>
        <box size="0.0381 .0075 .002"/>
      </geometry>
    </visual>
    <collision>
      <origin rpy="0 0 0" xyz="0.01905 0 0"/>
      <geometry>
        <box size="0.0381 .0075 .002"/>
      </geometry>
    </collision>
    <inertial>
      <origin rpy="0 0 0" xyz="0.01905 -0.00107 0"/>
      <mass value="0.00538"/>
      <inertia ixx="0.00000006639" ixy="-0.00000010996" ixz="-0.00000000094" iyy="0.00000305318" iyz="0" izz="0.00000304657"/>
    </inertial>
  </link>
  <gazebo reference="finger_1_link_median_bar_underactuated">
    <mu1>1.1</mu1>
    <mu2>1.1</mu2>
  </gazebo>
  <!-- Link paradistal hinge -->
  <link name="finger_1_link_paradistal_hinge">
    <visual>
      <origin rpy="0 0 0" xyz="0 0 0"/>
      <geometry>
        <box size=".02 .02 .002"/>
      </geometry>
    </visual>
    <collision>
      <origin rpy="0 0 0" xyz="0 0 0"/>
      <geometry>
        <box size=".02 0.02 .002"/>
      </geometry>
    </collision>
    <inertial>
      <origin rpy="0 0 0" xyz="0.00548 0 0"/>
      <mass value="0.00158"/>
      <inertia ixx="0.00000001907" ixy="0" ixz="0" iyy="0.00000010970" iyz="0" izz="0.00000012610"/>
    </inertial>
  </link>
  <gazebo reference="finger_1_link_paradistal_hinge">
    <mu1>1.1</mu1>
    <mu2>1.1</mu2>
  </gazebo>
  <!-- End of link list -->
  <!-- Joint list -->
  <!-- Joint proximal actuating hinge -->
  <joint name="finger_1_joint_proximal_actuating_hinge" type="revolute">
    <parent link="finger_1_link_0"/>
    <child link="finger_1_link_proximal_actuating_hinge"/>
    <axis xyz="0 0 1"/>
    <origin rpy="0 0 -2.0906" xyz="0 0 0.01"/>
    <limit effort="100" lower="-3.1416" upper="3.1416" velocity="100"/>
  </joint>
  <gazebo reference="finger_1_joint_proximal_actuating_hinge">
    <implicitSpringDamper>1</implicitSpringDamper>
  </gazebo>
  <!-- Joint paraproximal actuating hinge -->
  <joint name="finger_1_joint_paraproximal_actuating_hinge" type="revolute">
    <parent link="finger_1_link_0"/>
    <child link="finger_1_link_paraproximal_actuating_hinge"/>
    <axis xyz="0 0 1"/>
    <origin rpy="0 0 -2.0906" xyz="0 0 -0.01"/>
    <limit effort="100" lower="-3.1416" upper="3.1416" velocity="100"/>
  </joint>
  <gazebo reference="finger_1_joint_paraproximal_actuating_hinge">
    <implicitSpringDamper>1</implicitSpringDamper>
  </gazebo>
  <!-- Joint proximal actuating bar -->
  <joint name="finger_1_joint_proximal_actuating_bar" type="revolute">
    <parent link="finger_1_link_proximal_actuating_hinge"/>
    <child link="finger_1_link_proximal_actuating_bar"/>
    <axis xyz="0 0 1"/>
    <origin rpy="0 0 1.8616" xyz="0.02858 0 0"/>
    <limit effort="100" lower="-3.1416" upper="3.1416" velocity="100"/>
  </joint>
  <gazebo reference="finger_1_joint_proximal_actuating_bar">
    <implicitSpringDamper>1</implicitSpringDamper>
  </gazebo>
  <!-- Joint paraproximal bar -->
  <joint name="finger_1_joint_paraproximal_bar" type="revolute">
    <parent link="finger_1_link_paraproximal_actuating_hinge"/>
    <child link="finger_1_link_paraproximal_bar"/>
    <axis xyz="0 0 1"/>
    <origin rpy="0 0 1.57" xyz="0.02286 0 0"/>
    <limit effort="100" lower="-3.1416" upper="3.1416" velocity="100"/>
  </joint>
  <gazebo reference="finger_1_joint_paraproximal_bar">
    <implicitSpringDamper>1</implicitSpringDamper>
  </gazebo>
  <!-- Joint median actuating hinge -->
  <joint name="finger_1_joint_median_actuating_hinge" type="revolute">
    <parent link="finger_1_link_1"/>
    <child link="finger_1_link_median_actuating_hinge"/>
    <axis xyz="0 0 1"/>
    <origin rpy="0 0 -0.37" xyz="0 0.05715 0.01"/>
    <limit effort="100" lower="-3.1416" upper="3.1416" velocity="100"/>
  </joint>
  <gazebo reference="finger_1_joint_median_actuating_hinge">
    <implicitSpringDamper>1</implicitSpringDamper>
  </gazebo>
  <!-- Joint paramedian hinge -->
  <joint name="finger_1_joint_paramedian_hinge" type="revolute">
    <parent link="finger_1_link_1"/>
    <child link="finger_1_link_paramedian_hinge"/>
    <axis xyz="0 0 1"/>
    <!-- -0.37 is hand picked, 0.9719 is hand calculated from atan(0.02381/0.01625) -->
    <origin rpy="0 0 0" xyz="0 0.05715 -0.01"/>
    <limit effort="100" lower="-3.1416" upper="3.1416" velocity="100"/>
  </joint>
  <gazebo reference="finger_1_joint_paramedian_hinge">
    <implicitSpringDamper>1</implicitSpringDamper>
  </gazebo>
  <!-- Joint median actuating hinge median bar -->
  <joint name="finger_1_joint_median_actuating_hinge_median_bar" type="revolute">
    <parent link="finger_1_link_median_actuating_hinge"/>
    <child link="finger_1_link_median_bar"/>
    <axis xyz="0 0 1"/>
    <!-- hand calc 90 deg + atan(0.01516/0.01625) -->
    <origin rpy="0 0 2.3215" xyz="0.01625 0.01516 0"/>
    <limit effort="100" lower="-3.1416" upper="3.1416" velocity="100"/>
  </joint>
  <gazebo reference="finger_1_joint_median_actuating_hinge_median_bar">
    <implicitSpringDamper>1</implicitSpringDamper>
  </gazebo>
  <!-- Joint paradistal hinge -->
  <joint name="finger_1_joint_paradistal_hinge" type="revolute">
    <parent link="finger_1_link_2"/>
    <child link="finger_1_link_paradistal_hinge"/>
    <axis xyz="0 0 1"/>
    <origin rpy="0 0 0" xyz="0 0.039 -0.01"/>
    <limit effort="100" lower="-3.1416" upper="3.1416" velocity="100"/>
  </joint>
  <gazebo reference="finger_1_joint_paradistal_hinge">
    <implicitSpringDamper>1</implicitSpringDamper>
  </gazebo>
  <!-- Joint paramedian hinge median bar underactuated -->
  <joint name="finger_1_joint_paramedian_hinge_median_bar_underactuated" type="revolute">
    <parent link="finger_1_link_paramedian_hinge"/>
    <child link="finger_1_link_median_bar_underactuated"/>
    <axis xyz="0 0 1"/>
    <!-- hand calc 90 deg + atan(0.01227/0.00329) -->
    <origin rpy="0 0 1.5708" xyz="0.01227 0.00329 0"/>
    <limit effort="100" lower="-3.1416" upper="3.1416" velocity="100"/>
  </joint>
  <gazebo reference="finger_1_joint_paramedian_hinge_median_bar_underactuated">
    <implicitSpringDamper>1</implicitSpringDamper>
  </gazebo>
  <!-- Joint 1 -->
  <joint name="finger_1_joint_1" type="revolute">
    <origin rpy="0 0 -2.0906" xyz="0 0 0"/>
    <axis xyz="0 0 1"/>
    <parent link="finger_1_link_0"/>
    <child link="finger_1_link_1"/>
    <dynamics damping="1" friction="0"/>
    <!-- Limits: [0deg.,70deg.] -->
    <limit effort="60" lower="0" upper="1.2217" velocity="-1"/>
  </joint>
  <gazebo reference="finger_1_joint_1">
    <implicitSpringDamper>1</implicitSpringDamper>
  </gazebo>
  <!-- Joint 2 -->
  <joint name="finger_1_joint_2" type="revolute">
    <parent link="finger_1_link_1"/>
    <child link="finger_1_link_2"/>
    <dynamics damping="1" friction="0"/>
    <axis xyz="0 0 1"/>
    <origin rpy="0 0 0" xyz="0 0.05715 0"/>
    <!-- Limits: [0deg.,90deg.] -->
    <limit effort="60" lower="0" upper="1.5708" velocity="-1"/>
  </joint>
  <gazebo reference="finger_1_joint_2">
    <implicitSpringDamper>1</implicitSpringDamper>
  </gazebo>
  <!-- Joint 3 -->
  <joint name="finger_1_joint_3" type="revolute">
    <parent link="finger_1_link_2"/>
    <child link="finger_1_link_3"/>
    <dynamics damping="1" friction="0"/>
    <axis xyz="0 0 1"/>
    <origin rpy="0 0 2.0906" xyz="0 0.039 0"/>
    <!-- Limits: [-38deg.,60deg.] -->
    <limit effort="60" lower="-0.6632" upper="1.0471" velocity="-1"/>
  </joint>
  <gazebo reference="finger_1_joint_3">
    <implicitSpringDamper>1</implicitSpringDamper>
  </gazebo>
  <!-- end of joint list -->
  <!-- coupling joints in sdf -->
  <gazebo>
    <joint name="finger_1_link_proximal_actuating_bar_median_actuating_hinge_couple" type="revolute">
      <parent>finger_1_link_median_actuating_hinge</parent>
      <child>finger_1_link_proximal_actuating_bar</child>
      <pose>0.05398 0 0 0 0 0</pose>
      <axis>
        <dynamics>
          <damping>0</damping>
          <friction>0</friction>
        </dynamics>
        <xyz>0 0 1</xyz>
        <!-- <use_parent_model_frame>false</use_parent_model_frame> -->
      </axis>
    </joint>
  </gazebo>
  <gazebo reference="finger_1_link_proximal_actuating_bar_median_actuating_hinge_couple">
    <implicitSpringDamper>1</implicitSpringDamper>
  </gazebo>
  <gazebo>
    <joint name="finger_1_link_median_bar_link_3_couple" type="revolute">
      <parent>finger_1_link_3</parent>
      <child>finger_1_link_median_bar</child>
      <pose>0.0381 0 0 0 0 0</pose>
      <axis>
        <dynamics>
          <damping>0</damping>
          <friction>0</friction>
        </dynamics>
        <xyz>0 0 1</xyz>
        <!-- <use_parent_model_frame>false</use_parent_model_frame> -->
      </axis>
    </joint>
  </gazebo>
  <gazebo reference="finger_1_link_median_bar_link_3_couple">
    <implicitSpringDamper>1</implicitSpringDamper>
  </gazebo>
  <gazebo>
    <joint name="finger_1_link_paramedian_bar_paradistal_hinge_couple" type="revolute">
      <parent>finger_1_link_paradistal_hinge</parent>
      <child>finger_1_link_median_bar_underactuated</child>
      <pose>0.0381 0 0 0 0 0</pose>
      <axis>
        <dynamics>
          <damping>0</damping>
          <friction>0</friction>
        </dynamics>
        <xyz>0 0 1</xyz>
        <!-- <use_parent_model_frame>false</use_parent_model_frame> -->
      </axis>
    </joint>
  </gazebo>
  <gazebo reference="finger_1_link_median_bar_link_3_couple">
    <implicitSpringDamper>1</implicitSpringDamper>
  </gazebo>
  <gazebo>
    <joint name="finger_1_link_paradistal_hinge_link_3_couple" type="revolute">
      <parent>finger_1_link_paradistal_hinge</parent>
      <child>finger_1_link_3</child>
      <pose>0.0381 0 0 0 0 0</pose>
      <axis>
        <dynamics>
          <damping>0</damping>
          <friction>0</friction>
        </dynamics>
        <xyz>0 0 1</xyz>
        <!-- <use_parent_model_frame>false</use_parent_model_frame> -->
      </axis>
    </joint>
  </gazebo>
  <gazebo reference="finger_1_link_paradistal_hinge_link_3_couple">
    <implicitSpringDamper>1</implicitSpringDamper>
  </gazebo>
  <gazebo>
    <joint name="finger_1_link_paraproximal_bar_paramedian_hinge_couple" type="revolute">
      <parent>finger_1_link_paramedian_hinge</parent>
      <child>finger_1_link_paraproximal_bar</child>
      <pose>0.05770 0 0 0 0 0</pose>
      <axis>
        <dynamics>
          <damping>0</damping>
          <friction>0</friction>
        </dynamics>
        <xyz>0 0 1</xyz>
        <!-- <use_parent_model_frame>false</use_parent_model_frame> -->
      </axis>
    </joint>
  </gazebo>
  <gazebo reference="finger_1_link_paraproximal_bar_paramedian_hinge_couple">
    <implicitSpringDamper>1</implicitSpringDamper>
  </gazebo>
  <!-- Link list -->
  <!-- Link 0 -->
  <link name="finger_2_link_0">
    <visual>
      <origin rpy="0 0 0" xyz="0 0 0"/>
      <geometry>
        <mesh filename="package://robotiq_s_model_visualization/meshes/s-model_articulated/visual/link_0.STL"/>
      </geometry>
      <material name="green">
        <color rgba="0 1 0 1"/>
      </material>
    </visual>
    <collision>
      <origin rpy="0 0 0" xyz="0 0 0"/>
      <geometry>
        <mesh filename="package://robotiq_s_model_visualization/meshes/s-model_articulated/collision/link_0.STL"/>
      </geometry>
      <material name="yellow">
        <color rgba="0 1 1 1"/>
      </material>
    </collision>
    <inertial>
      <mass value="0.1"/>
      <origin xyz="-0.01 0 0"/>
      <inertia ixx="0.000018" ixy="0" ixz="0" iyy="0.000025" iyz="0" izz="0.000025"/>
    </inertial>
  </link>
  <gazebo reference="finger_2_link_0">
    <mu1>1.1</mu1>
    <mu2>1.1</mu2>
  </gazebo>
  <!-- Link 1 -->
  <link name="finger_2_link_1">
    <visual>
      <origin rpy="0 0 1.5708" xyz="0 0.05717 0"/>
      <geometry>
        <mesh filename="package://robotiq_s_model_visualization/meshes/s-model_articulated/visual/link_1.STL"/>
      </geometry>
      <material name="green"/>
    </visual>
    <collision>
      <origin rpy="0 0 1.5708" xyz="0 0.05717 0"/>
      <geometry>
        <mesh filename="package://robotiq_s_model_visualization/meshes/s-model_articulated/collision/link_1.STL"/>
      </geometry>
      <material name="yellow">
        <color rgba="0 1 1 1"/>
      </material>
    </collision>
    <inertial>
      <origin rpy="0 0 1.5708" xyz="0.00053 0.03218 0"/>
      <mass value="0.047"/>
      <inertia ixx="0.00000499332" ixy="0.00000091312" ixz="-0.00000000120" iyy="0.00006434531" iyz="-0.00000000007" izz="0.00006061917"/>
    </inertial>
  </link>
  <gazebo reference="finger_2_link_1">
    <mu1>1.1</mu1>
    <mu2>1.1</mu2>
  </gazebo>
  <!-- Link 2 -->
  <link name="finger_2_link_2">
    <visual>
      <origin rpy="0 0 1.5708" xyz="0 0.03810 0.0075"/>
      <geometry>
        <mesh filename="package://robotiq_s_model_visualization/meshes/s-model_articulated/visual/link_2.STL"/>
      </geometry>
      <material name="green"/>
    </visual>
    <collision>
      <origin rpy="0 0 1.5708" xyz="0 0.03810 0.0075"/>
      <geometry>
        <mesh filename="package://robotiq_s_model_visualization/meshes/s-model_articulated/collision/link_2.STL"/>
      </geometry>
      <material name="yellow"/>
    </collision>
    <inertial>
      <origin rpy="0 0 1.5708" xyz="0.00048 0.02167 0.00018"/>
      <mass value="0.03284"/>
      <inertia ixx="0.00000348008" ixy="0.00000031940" ixz="0.00000013041" iyy="0.00002248123" iyz="0.00000000291" izz="0.00001986346"/>
    </inertial>
  </link>
  <gazebo reference="finger_2_link_2">
    <mu1>1.1</mu1>
    <mu2>1.1</mu2>
  </gazebo>
  <!-- Link 3 -->
  <link name="finger_2_link_3">
    <visual>
      <origin rpy="0 0 0" xyz="0 0 0"/>
      <geometry>
        <mesh filename="package://robotiq_s_model_visualization/meshes/s-model_articulated/visual/link_3.STL"/>
      </geometry>
      <material name="green"/>
    </visual>
    <collision>
      <origin rpy="0 0 0" xyz="0 0 0"/>
      <geometry>
        <mesh filename="package://robotiq_s_model_visualization/meshes/s-model_articulated/collision/link_3.STL"/>
      </geometry>
      <material name="yellow"/>
    </collision>
    <inertial>
      <origin rpy="0 0 0" xyz="0.01626 0.00049 0.0002"/>
      <mass value="0.03354"/>
      <inertia ixx="0.00000305151" ixy="0.00000089792" ixz="0.00000000249" iyy="0.00001427978" iyz="-0.00000001191" izz="0.00001264126"/>
    </inertial>
  </link>
  <gazebo reference="finger_2_link_3">
    <mu1>1.1</mu1>
    <mu2>1.1</mu2>
  </gazebo>
  <!-- Link proximal actuating hinge -->
  <link name="finger_2_link_proximal_actuating_hinge">
    <visual>
      <origin rpy="0 0 0" xyz="0.01429 0 0"/>
      <geometry>
        <box size="0.02858 .0075 .002"/>
      </geometry>
    </visual>
    <collision>
      <origin rpy="0 0 0" xyz="0.01429 0 0"/>
      <geometry>
        <box size="0.02858 .0075 .002"/>
      </geometry>
    </collision>
    <inertial>
      <origin rpy="0 0 0" xyz="0.0012 -0.00162 -0.00161"/>
      <mass value="0.02647"/>
      <inertia ixx="0.00000156447" ixy="0.000000236226" ixz="-0.00000014862" iyy="0.00000221068" iyz="-0.00000014369" izz="0.00000323175"/>
    </inertial>
  </link>
  <gazebo reference="finger_2_link_proximal_actuating_hinge">
    <mu1>1.1</mu1>
    <mu2>1.1</mu2>
  </gazebo>
  <!-- Link paraproximal actuating hinge -->
  <link name="finger_2_link_paraproximal_actuating_hinge">
    <visual>
      <origin rpy="0 0 0" xyz="0.01143 0 0"/>
      <geometry>
        <box size="0.02286 .0075 .002"/>
      </geometry>
    </visual>
    <collision>
      <origin rpy="0 0 0" xyz="0.01143 0 0"/>
      <geometry>
        <box size="0.02286 .0075 .002"/>
      </geometry>
    </collision>
    <inertial>
      <origin rpy="0 0 0" xyz="0.0064 0 0"/>
      <!-- copied from proximal_actuating_hinge -->
      <mass value="0.00362"/>
      <inertia ixx="0.00000012043" ixy="0" ixz="0" iyy="0.00000053588" iyz="0" izz="0.00000065322"/>
    </inertial>
  </link>
  <gazebo reference="finger_2_link_paraproximal_actuating_hinge">
    <mu1>1.1</mu1>
    <mu2>1.1</mu2>
  </gazebo>
  <!-- Link proximal actuating bar -->
  <link name="finger_2_link_proximal_actuating_bar">
    <visual>
      <origin rpy="0 0 0" xyz="0.026789 0 0"/>
      <geometry>
        <box size="0.05398 .0075 .002"/>
      </geometry>
    </visual>
    <collision>
      <origin rpy="0 0 0" xyz="0.026789 0 0"/>
      <geometry>
        <box size="0.05398 .0075 .002"/>
      </geometry>
    </collision>
    <inertial>
      <origin rpy="0 0 0" xyz="0.02699 -0.00122 0"/>
      <mass value="0.00659"/>
      <inertia ixx="0.00000008348" ixy="-0.0000002179" ixz="0.00000000134" iyy="0.00000719076" iyz="0" izz="0.00000718272"/>
    </inertial>
  </link>
  <gazebo reference="finger_2_link_proximal_actuating_bar">
    <mu1>1.1</mu1>
    <mu2>1.1</mu2>
  </gazebo>
  <!-- Link paraproximal bar -->
  <link name="finger_2_link_paraproximal_bar">
    <visual>
      <origin rpy="0 0 0" xyz="0.02885 0 0"/>
      <geometry>
        <box size="0.05770 .0075 .002"/>
      </geometry>
    </visual>
    <collision>
      <origin rpy="0 0 0" xyz="0.02885 0 0"/>
      <geometry>
        <box size="0.05770 .0075 .002"/>
      </geometry>
    </collision>
    <inertial>
      <origin rpy="0 0 0" xyz="0.02858 -0.00129 0"/>
      <mass value="0.00732"/>
      <inertia ixx="0.00000009065" ixy="-0.00000027047" ixz="0.00000000142" iyy="0.00000878034" iyz="0" izz="0.00000877558"/>
    </inertial>
  </link>
  <gazebo reference="finger_2_link_paraproximal_bar">
    <mu1>1.1</mu1>
    <mu2>1.1</mu2>
  </gazebo>
  <!-- Link median actuating hinge -->
  <link name="finger_2_link_median_actuating_hinge">
    <visual>
      <origin rpy="0 0 0" xyz="0 0 0"/>
      <geometry>
        <box size=".02 .02 .002"/>
      </geometry>
    </visual>
    <collision>
      <origin rpy="0 0 0" xyz="0 0 0"/>
      <geometry>
        <box size=".02 .02 .002"/>
      </geometry>
    </collision>
    <inertial>
      <origin rpy="0 0 0" xyz="0.0092 0.00514 0"/>
      <mass value="0.00359"/>
      <inertia ixx="0.00000024735" ixy="0.00000023619" ixz="0" iyy="0.00000047681" iyz="0" izz="0.00000071813"/>
    </inertial>
  </link>
  <gazebo reference="finger_2_link_median_actuating_hinge">
    <mu1>1.1</mu1>
    <mu2>1.1</mu2>
  </gazebo>
  <!-- Link median bar -->
  <link name="finger_2_link_median_bar">
    <visual>
      <origin rpy="0 0 0" xyz="0.01905 0 0"/>
      <geometry>
        <box size="0.0381 .0075 .002"/>
      </geometry>
    </visual>
    <collision>
      <origin rpy="0 0 0" xyz="0.01905 0 0"/>
      <geometry>
        <box size="0.0381 .0075 .002"/>
      </geometry>
    </collision>
    <inertial>
      <origin rpy="0 0 0" xyz="0.01905 -0.00107 0"/>
      <mass value="0.00538"/>
      <inertia ixx="0.00000006639" ixy="-0.00000010996" ixz="0.00000000094" iyy="0.00000305318" iyz="0" izz="0.00000304657"/>
    </inertial>
  </link>
  <gazebo reference="finger_2_link_median_bar">
    <mu1>1.1</mu1>
    <mu2>1.1</mu2>
  </gazebo>
  <!-- Link paramedian hinge -->
  <link name="finger_2_link_paramedian_hinge">
    <visual>
      <origin rpy="0 0 0" xyz="0 0 0"/>
      <geometry>
        <box size=".02 .02 .002"/>
      </geometry>
    </visual>
    <collision>
      <origin rpy="0 0 0" xyz="0 0 0"/>
      <geometry>
        <box size=".02 .02 .002"/>
      </geometry>
    </collision>
    <inertial>
      <origin rpy="0 0 0" xyz="-0.01025 0.00046 0"/>
      <mass value="0.00276"/>
      <inertia ixx="0.00000004213" ixy="-0.00000001491" ixz="0" iyy="0.00000050258" iyz="0" izz="0.00000054007"/>
    </inertial>
  </link>
  <gazebo reference="finger_2_link_paramedian_hinge">
    <mu1>1.1</mu1>
    <mu2>1.1</mu2>
  </gazebo>
  <!-- Link median bar underactuated -->
  <link name="finger_2_link_median_bar_underactuated">
    <visual>
      <origin rpy="0 0 0" xyz="0.01905 0 0"/>
      <geometry>
        <box size="0.0381 .0075 .002"/>
      </geometry>
    </visual>
    <collision>
      <origin rpy="0 0 0" xyz="0.01905 0 0"/>
      <geometry>
        <box size="0.0381 .0075 .002"/>
      </geometry>
    </collision>
    <inertial>
      <origin rpy="0 0 0" xyz="0.01905 -0.00107 0"/>
      <mass value="0.00538"/>
      <inertia ixx="0.00000006639" ixy="-0.00000010996" ixz="-0.00000000094" iyy="0.00000305318" iyz="0" izz="0.00000304657"/>
    </inertial>
  </link>
  <gazebo reference="finger_2_link_median_bar_underactuated">
    <mu1>1.1</mu1>
    <mu2>1.1</mu2>
  </gazebo>
  <!-- Link paradistal hinge -->
  <link name="finger_2_link_paradistal_hinge">
    <visual>
      <origin rpy="0 0 0" xyz="0 0 0"/>
      <geometry>
        <box size=".02 .02 .002"/>
      </geometry>
    </visual>
    <collision>
      <origin rpy="0 0 0" xyz="0 0 0"/>
      <geometry>
        <box size=".02 0.02 .002"/>
      </geometry>
    </collision>
    <inertial>
      <origin rpy="0 0 0" xyz="0.00548 0 0"/>
      <mass value="0.00158"/>
      <inertia ixx="0.00000001907" ixy="0" ixz="0" iyy="0.00000010970" iyz="0" izz="0.00000012610"/>
    </inertial>
  </link>
  <gazebo reference="finger_2_link_paradistal_hinge">
    <mu1>1.1</mu1>
    <mu2>1.1</mu2>
  </gazebo>
  <!-- End of link list -->
  <!-- Joint list -->
  <!-- Joint proximal actuating hinge -->
  <joint name="finger_2_joint_proximal_actuating_hinge" type="revolute">
    <parent link="finger_2_link_0"/>
    <child link="finger_2_link_proximal_actuating_hinge"/>
    <axis xyz="0 0 1"/>
    <origin rpy="0 0 -2.0906" xyz="0 0 0.01"/>
    <limit effort="100" lower="-3.1416" upper="3.1416" velocity="100"/>
  </joint>
  <gazebo reference="finger_2_joint_proximal_actuating_hinge">
    <implicitSpringDamper>1</implicitSpringDamper>
  </gazebo>
  <!-- Joint paraproximal actuating hinge -->
  <joint name="finger_2_joint_paraproximal_actuating_hinge" type="revolute">
    <parent link="finger_2_link_0"/>
    <child link="finger_2_link_paraproximal_actuating_hinge"/>
    <axis xyz="0 0 1"/>
    <origin rpy="0 0 -2.0906" xyz="0 0 -0.01"/>
    <limit effort="100" lower="-3.1416" upper="3.1416" velocity="100"/>
  </joint>
  <gazebo reference="finger_2_joint_paraproximal_actuating_hinge">
    <implicitSpringDamper>1</implicitSpringDamper>
  </gazebo>
  <!-- Joint proximal actuating bar -->
  <joint name="finger_2_joint_proximal_actuating_bar" type="revolute">
    <parent link="finger_2_link_proximal_actuating_hinge"/>
    <child link="finger_2_link_proximal_actuating_bar"/>
    <axis xyz="0 0 1"/>
    <origin rpy="0 0 1.8616" xyz="0.02858 0 0"/>
    <limit effort="100" lower="-3.1416" upper="3.1416" velocity="100"/>
  </joint>
  <gazebo reference="finger_2_joint_proximal_actuating_bar">
    <implicitSpringDamper>1</implicitSpringDamper>
  </gazebo>
  <!-- Joint paraproximal bar -->
  <joint name="finger_2_joint_paraproximal_bar" type="revolute">
    <parent link="finger_2_link_paraproximal_actuating_hinge"/>
    <child link="finger_2_link_paraproximal_bar"/>
    <axis xyz="0 0 1"/>
    <origin rpy="0 0 1.57" xyz="0.02286 0 0"/>
    <limit effort="100" lower="-3.1416" upper="3.1416" velocity="100"/>
  </joint>
  <gazebo reference="finger_2_joint_paraproximal_bar">
    <implicitSpringDamper>1</implicitSpringDamper>
  </gazebo>
  <!-- Joint median actuating hinge -->
  <joint name="finger_2_joint_median_actuating_hinge" type="revolute">
    <parent link="finger_2_link_1"/>
    <child link="finger_2_link_median_actuating_hinge"/>
    <axis xyz="0 0 1"/>
    <origin rpy="0 0 -0.37" xyz="0 0.05715 0.01"/>
    <limit effort="100" lower="-3.1416" upper="3.1416" velocity="100"/>
  </joint>
  <gazebo reference="finger_2_joint_median_actuating_hinge">
    <implicitSpringDamper>1</implicitSpringDamper>
  </gazebo>
  <!-- Joint paramedian hinge -->
  <joint name="finger_2_joint_paramedian_hinge" type="revolute">
    <parent link="finger_2_link_1"/>
    <child link="finger_2_link_paramedian_hinge"/>
    <axis xyz="0 0 1"/>
    <!-- -0.37 is hand picked, 0.9719 is hand calculated from atan(0.02381/0.01625) -->
    <origin rpy="0 0 0" xyz="0 0.05715 -0.01"/>
    <limit effort="100" lower="-3.1416" upper="3.1416" velocity="100"/>
  </joint>
  <gazebo reference="finger_2_joint_paramedian_hinge">
    <implicitSpringDamper>1</implicitSpringDamper>
  </gazebo>
  <!-- Joint median actuating hinge median bar -->
  <joint name="finger_2_joint_median_actuating_hinge_median_bar" type="revolute">
    <parent link="finger_2_link_median_actuating_hinge"/>
    <child link="finger_2_link_median_bar"/>
    <axis xyz="0 0 1"/>
    <!-- hand calc 90 deg + atan(0.01516/0.01625) -->
    <origin rpy="0 0 2.3215" xyz="0.01625 0.01516 0"/>
    <limit effort="100" lower="-3.1416" upper="3.1416" velocity="100"/>
  </joint>
  <gazebo reference="finger_2_joint_median_actuating_hinge_median_bar">
    <implicitSpringDamper>1</implicitSpringDamper>
  </gazebo>
  <!-- Joint paradistal hinge -->
  <joint name="finger_2_joint_paradistal_hinge" type="revolute">
    <parent link="finger_2_link_2"/>
    <child link="finger_2_link_paradistal_hinge"/>
    <axis xyz="0 0 1"/>
    <origin rpy="0 0 0" xyz="0 0.039 -0.01"/>
    <limit effort="100" lower="-3.1416" upper="3.1416" velocity="100"/>
  </joint>
  <gazebo reference="finger_2_joint_paradistal_hinge">
    <implicitSpringDamper>1</implicitSpringDamper>
  </gazebo>
  <!-- Joint paramedian hinge median bar underactuated -->
  <joint name="finger_2_joint_paramedian_hinge_median_bar_underactuated" type="revolute">
    <parent link="finger_2_link_paramedian_hinge"/>
    <child link="finger_2_link_median_bar_underactuated"/>
    <axis xyz="0 0 1"/>
    <!-- hand calc 90 deg + atan(0.01227/0.00329) -->
    <origin rpy="0 0 1.5708" xyz="0.01227 0.00329 0"/>
    <limit effort="100" lower="-3.1416" upper="3.1416" velocity="100"/>
  </joint>
  <gazebo reference="finger_2_joint_paramedian_hinge_median_bar_underactuated">
    <implicitSpringDamper>1</implicitSpringDamper>
  </gazebo>
  <!-- Joint 1 -->
  <joint name="finger_2_joint_1" type="revolute">
    <origin rpy="0 0 -2.0906" xyz="0 0 0"/>
    <axis xyz="0 0 1"/>
    <parent link="finger_2_link_0"/>
    <child link="finger_2_link_1"/>
    <dynamics damping="1" friction="0"/>
    <!-- Limits: [0deg.,70deg.] -->
    <limit effort="60" lower="0" upper="1.2217" velocity="-1"/>
  </joint>
  <gazebo reference="finger_2_joint_1">
    <implicitSpringDamper>1</implicitSpringDamper>
  </gazebo>
  <!-- Joint 2 -->
  <joint name="finger_2_joint_2" type="revolute">
    <parent link="finger_2_link_1"/>
    <child link="finger_2_link_2"/>
    <dynamics damping="1" friction="0"/>
    <axis xyz="0 0 1"/>
    <origin rpy="0 0 0" xyz="0 0.05715 0"/>
    <!-- Limits: [0deg.,90deg.] -->
    <limit effort="60" lower="0" upper="1.5708" velocity="-1"/>
  </joint>
  <gazebo reference="finger_2_joint_2">
    <implicitSpringDamper>1</implicitSpringDamper>
  </gazebo>
  <!-- Joint 3 -->
  <joint name="finger_2_joint_3" type="revolute">
    <parent link="finger_2_link_2"/>
    <child link="finger_2_link_3"/>
    <dynamics damping="1" friction="0"/>
    <axis xyz="0 0 1"/>
    <origin rpy="0 0 2.0906" xyz="0 0.039 0"/>
    <!-- Limits: [-38deg.,60deg.] -->
    <limit effort="60" lower="-0.6632" upper="1.0471" velocity="-1"/>
  </joint>
  <gazebo reference="finger_2_joint_3">
    <implicitSpringDamper>1</implicitSpringDamper>
  </gazebo>
  <!-- end of joint list -->
  <!-- coupling joints in sdf -->
  <gazebo>
    <joint name="finger_2_link_proximal_actuating_bar_median_actuating_hinge_couple" type="revolute">
      <parent>finger_2_link_median_actuating_hinge</parent>
      <child>finger_2_link_proximal_actuating_bar</child>
      <pose>0.05398 0 0 0 0 0</pose>
      <axis>
        <dynamics>
          <damping>0</damping>
          <friction>0</friction>
        </dynamics>
        <xyz>0 0 1</xyz>
        <!-- <use_parent_model_frame>false</use_parent_model_frame> -->
      </axis>
    </joint>
  </gazebo>
  <gazebo reference="finger_2_link_proximal_actuating_bar_median_actuating_hinge_couple">
    <implicitSpringDamper>1</implicitSpringDamper>
  </gazebo>
  <gazebo>
    <joint name="finger_2_link_median_bar_link_3_couple" type="revolute">
      <parent>finger_2_link_3</parent>
      <child>finger_2_link_median_bar</child>
      <pose>0.0381 0 0 0 0 0</pose>
      <axis>
        <dynamics>
          <damping>0</damping>
          <friction>0</friction>
        </dynamics>
        <xyz>0 0 1</xyz>
        <!-- <use_parent_model_frame>false</use_parent_model_frame> -->
      </axis>
    </joint>
  </gazebo>
  <gazebo reference="finger_2_link_median_bar_link_3_couple">
    <implicitSpringDamper>1</implicitSpringDamper>
  </gazebo>
  <gazebo>
    <joint name="finger_2_link_paramedian_bar_paradistal_hinge_couple" type="revolute">
      <parent>finger_2_link_paradistal_hinge</parent>
      <child>finger_2_link_median_bar_underactuated</child>
      <pose>0.0381 0 0 0 0 0</pose>
      <axis>
        <dynamics>
          <damping>0</damping>
          <friction>0</friction>
        </dynamics>
        <xyz>0 0 1</xyz>
        <!-- <use_parent_model_frame>false</use_parent_model_frame> -->
      </axis>
    </joint>
  </gazebo>
  <gazebo reference="finger_2_link_median_bar_link_3_couple">
    <implicitSpringDamper>1</implicitSpringDamper>
  </gazebo>
  <gazebo>
    <joint name="finger_2_link_paradistal_hinge_link_3_couple" type="revolute">
      <parent>finger_2_link_paradistal_hinge</parent>
      <child>finger_2_link_3</child>
      <pose>0.0381 0 0 0 0 0</pose>
      <axis>
        <dynamics>
          <damping>0</damping>
          <friction>0</friction>
        </dynamics>
        <xyz>0 0 1</xyz>
        <!-- <use_parent_model_frame>false</use_parent_model_frame> -->
      </axis>
    </joint>
  </gazebo>
  <gazebo reference="finger_2_link_paradistal_hinge_link_3_couple">
    <implicitSpringDamper>1</implicitSpringDamper>
  </gazebo>
  <gazebo>
    <joint name="finger_2_link_paraproximal_bar_paramedian_hinge_couple" type="revolute">
      <parent>finger_2_link_paramedian_hinge</parent>
      <child>finger_2_link_paraproximal_bar</child>
      <pose>0.05770 0 0 0 0 0</pose>
      <axis>
        <dynamics>
          <damping>0</damping>
          <friction>0</friction>
        </dynamics>
        <xyz>0 0 1</xyz>
        <!-- <use_parent_model_frame>false</use_parent_model_frame> -->
      </axis>
    </joint>
  </gazebo>
  <gazebo reference="finger_2_link_paraproximal_bar_paramedian_hinge_couple">
    <implicitSpringDamper>1</implicitSpringDamper>
  </gazebo>
  <!-- Link list -->
  <!-- Link 0 -->
  <link name="finger_middle_link_0">
    <visual>
      <origin rpy="0 0 0" xyz="0 0 0"/>
      <geometry>
        <mesh filename="package://robotiq_s_model_visualization/meshes/s-model_articulated/visual/link_0.STL"/>
      </geometry>
      <material name="green">
        <color rgba="0 1 0 1"/>
      </material>
    </visual>
    <collision>
      <origin rpy="0 0 0" xyz="0 0 0"/>
      <geometry>
        <mesh filename="package://robotiq_s_model_visualization/meshes/s-model_articulated/collision/link_0.STL"/>
      </geometry>
      <material name="yellow">
        <color rgba="0 1 1 1"/>
      </material>
    </collision>
    <inertial>
      <mass value="0.1"/>
      <origin xyz="-0.01 0 0"/>
      <inertia ixx="0.000018" ixy="0" ixz="0" iyy="0.000025" iyz="0" izz="0.000025"/>
    </inertial>
  </link>
  <gazebo reference="finger_middle_link_0">
    <mu1>1.1</mu1>
    <mu2>1.1</mu2>
  </gazebo>
  <!-- Link 1 -->
  <link name="finger_middle_link_1">
    <visual>
      <origin rpy="0 0 1.5708" xyz="0 0.05717 0"/>
      <geometry>
        <mesh filename="package://robotiq_s_model_visualization/meshes/s-model_articulated/visual/link_1.STL"/>
      </geometry>
      <material name="green"/>
    </visual>
    <collision>
      <origin rpy="0 0 1.5708" xyz="0 0.05717 0"/>
      <geometry>
        <mesh filename="package://robotiq_s_model_visualization/meshes/s-model_articulated/collision/link_1.STL"/>
      </geometry>
      <material name="yellow">
        <color rgba="0 1 1 1"/>
      </material>
    </collision>
    <inertial>
      <origin rpy="0 0 1.5708" xyz="0.00053 0.03218 0"/>
      <mass value="0.047"/>
      <inertia ixx="0.00000499332" ixy="0.00000091312" ixz="-0.00000000120" iyy="0.00006434531" iyz="-0.00000000007" izz="0.00006061917"/>
    </inertial>
  </link>
  <gazebo reference="finger_middle_link_1">
    <mu1>1.1</mu1>
    <mu2>1.1</mu2>
  </gazebo>
  <!-- Link 2 -->
  <link name="finger_middle_link_2">
    <visual>
      <origin rpy="0 0 1.5708" xyz="0 0.03810 0.0075"/>
      <geometry>
        <mesh filename="package://robotiq_s_model_visualization/meshes/s-model_articulated/visual/link_2.STL"/>
      </geometry>
      <material name="green"/>
    </visual>
    <collision>
      <origin rpy="0 0 1.5708" xyz="0 0.03810 0.0075"/>
      <geometry>
        <mesh filename="package://robotiq_s_model_visualization/meshes/s-model_articulated/collision/link_2.STL"/>
      </geometry>
      <material name="yellow"/>
    </collision>
    <inertial>
      <origin rpy="0 0 1.5708" xyz="0.00048 0.02167 0.00018"/>
      <mass value="0.03284"/>
      <inertia ixx="0.00000348008" ixy="0.00000031940" ixz="0.00000013041" iyy="0.00002248123" iyz="0.00000000291" izz="0.00001986346"/>
    </inertial>
  </link>
  <gazebo reference="finger_middle_link_2">
    <mu1>1.1</mu1>
    <mu2>1.1</mu2>
  </gazebo>
  <!-- Link 3 -->
  <link name="finger_middle_link_3">
    <visual>
      <origin rpy="0 0 0" xyz="0 0 0"/>
      <geometry>
        <mesh filename="package://robotiq_s_model_visualization/meshes/s-model_articulated/visual/link_3.STL"/>
      </geometry>
      <material name="green"/>
    </visual>
    <collision>
      <origin rpy="0 0 0" xyz="0 0 0"/>
      <geometry>
        <mesh filename="package://robotiq_s_model_visualization/meshes/s-model_articulated/collision/link_3.STL"/>
      </geometry>
      <material name="yellow"/>
    </collision>
    <inertial>
      <origin rpy="0 0 0" xyz="0.01626 0.00049 0.0002"/>
      <mass value="0.03354"/>
      <inertia ixx="0.00000305151" ixy="0.00000089792" ixz="0.00000000249" iyy="0.00001427978" iyz="-0.00000001191" izz="0.00001264126"/>
    </inertial>
  </link>
  <gazebo reference="finger_middle_link_3">
    <mu1>1.1</mu1>
    <mu2>1.1</mu2>
  </gazebo>
  <!-- Link proximal actuating hinge -->
  <link name="finger_middle_link_proximal_actuating_hinge">
    <visual>
      <origin rpy="0 0 0" xyz="0.01429 0 0"/>
      <geometry>
        <box size="0.02858 .0075 .002"/>
      </geometry>
    </visual>
    <collision>
      <origin rpy="0 0 0" xyz="0.01429 0 0"/>
      <geometry>
        <box size="0.02858 .0075 .002"/>
      </geometry>
    </collision>
    <inertial>
      <origin rpy="0 0 0" xyz="0.0012 -0.00162 -0.00161"/>
      <mass value="0.02647"/>
      <inertia ixx="0.00000156447" ixy="0.000000236226" ixz="-0.00000014862" iyy="0.00000221068" iyz="-0.00000014369" izz="0.00000323175"/>
    </inertial>
  </link>
  <gazebo reference="finger_middle_link_proximal_actuating_hinge">
    <mu1>1.1</mu1>
    <mu2>1.1</mu2>
  </gazebo>
  <!-- Link paraproximal actuating hinge -->
  <link name="finger_middle_link_paraproximal_actuating_hinge">
    <visual>
      <origin rpy="0 0 0" xyz="0.01143 0 0"/>
      <geometry>
        <box size="0.02286 .0075 .002"/>
      </geometry>
    </visual>
    <collision>
      <origin rpy="0 0 0" xyz="0.01143 0 0"/>
      <geometry>
        <box size="0.02286 .0075 .002"/>
      </geometry>
    </collision>
    <inertial>
      <origin rpy="0 0 0" xyz="0.0064 0 0"/>
      <!-- copied from proximal_actuating_hinge -->
      <mass value="0.00362"/>
      <inertia ixx="0.00000012043" ixy="0" ixz="0" iyy="0.00000053588" iyz="0" izz="0.00000065322"/>
    </inertial>
  </link>
  <gazebo reference="finger_middle_link_paraproximal_actuating_hinge">
    <mu1>1.1</mu1>
    <mu2>1.1</mu2>
  </gazebo>
  <!-- Link proximal actuating bar -->
  <link name="finger_middle_link_proximal_actuating_bar">
    <visual>
      <origin rpy="0 0 0" xyz="0.026789 0 0"/>
      <geometry>
        <box size="0.05398 .0075 .002"/>
      </geometry>
    </visual>
    <collision>
      <origin rpy="0 0 0" xyz="0.026789 0 0"/>
      <geometry>
        <box size="0.05398 .0075 .002"/>
      </geometry>
    </collision>
    <inertial>
      <origin rpy="0 0 0" xyz="0.02699 -0.00122 0"/>
      <mass value="0.00659"/>
      <inertia ixx="0.00000008348" ixy="-0.0000002179" ixz="0.00000000134" iyy="0.00000719076" iyz="0" izz="0.00000718272"/>
    </inertial>
  </link>
  <gazebo reference="finger_middle_link_proximal_actuating_bar">
    <mu1>1.1</mu1>
    <mu2>1.1</mu2>
  </gazebo>
  <!-- Link paraproximal bar -->
  <link name="finger_middle_link_paraproximal_bar">
    <visual>
      <origin rpy="0 0 0" xyz="0.02885 0 0"/>
      <geometry>
        <box size="0.05770 .0075 .002"/>
      </geometry>
    </visual>
    <collision>
      <origin rpy="0 0 0" xyz="0.02885 0 0"/>
      <geometry>
        <box size="0.05770 .0075 .002"/>
      </geometry>
    </collision>
    <inertial>
      <origin rpy="0 0 0" xyz="0.02858 -0.00129 0"/>
      <mass value="0.00732"/>
      <inertia ixx="0.00000009065" ixy="-0.00000027047" ixz="0.00000000142" iyy="0.00000878034" iyz="0" izz="0.00000877558"/>
    </inertial>
  </link>
  <gazebo reference="finger_middle_link_paraproximal_bar">
    <mu1>1.1</mu1>
    <mu2>1.1</mu2>
  </gazebo>
  <!-- Link median actuating hinge -->
  <link name="finger_middle_link_median_actuating_hinge">
    <visual>
      <origin rpy="0 0 0" xyz="0 0 0"/>
      <geometry>
        <box size=".02 .02 .002"/>
      </geometry>
    </visual>
    <collision>
      <origin rpy="0 0 0" xyz="0 0 0"/>
      <geometry>
        <box size=".02 .02 .002"/>
      </geometry>
    </collision>
    <inertial>
      <origin rpy="0 0 0" xyz="0.0092 0.00514 0"/>
      <mass value="0.00359"/>
      <inertia ixx="0.00000024735" ixy="0.00000023619" ixz="0" iyy="0.00000047681" iyz="0" izz="0.00000071813"/>
    </inertial>
  </link>
  <gazebo reference="finger_middle_link_median_actuating_hinge">
    <mu1>1.1</mu1>
    <mu2>1.1</mu2>
  </gazebo>
  <!-- Link median bar -->
  <link name="finger_middle_link_median_bar">
    <visual>
      <origin rpy="0 0 0" xyz="0.01905 0 0"/>
      <geometry>
        <box size="0.0381 .0075 .002"/>
      </geometry>
    </visual>
    <collision>
      <origin rpy="0 0 0" xyz="0.01905 0 0"/>
      <geometry>
        <box size="0.0381 .0075 .002"/>
      </geometry>
    </collision>
    <inertial>
      <origin rpy="0 0 0" xyz="0.01905 -0.00107 0"/>
      <mass value="0.00538"/>
      <inertia ixx="0.00000006639" ixy="-0.00000010996" ixz="0.00000000094" iyy="0.00000305318" iyz="0" izz="0.00000304657"/>
    </inertial>
  </link>
  <gazebo reference="finger_middle_link_median_bar">
    <mu1>1.1</mu1>
    <mu2>1.1</mu2>
  </gazebo>
  <!-- Link paramedian hinge -->
  <link name="finger_middle_link_paramedian_hinge">
    <visual>
      <origin rpy="0 0 0" xyz="0 0 0"/>
      <geometry>
        <box size=".02 .02 .002"/>
      </geometry>
    </visual>
    <collision>
      <origin rpy="0 0 0" xyz="0 0 0"/>
      <geometry>
        <box size=".02 .02 .002"/>
      </geometry>
    </collision>
    <inertial>
      <origin rpy="0 0 0" xyz="-0.01025 0.00046 0"/>
      <mass value="0.00276"/>
      <inertia ixx="0.00000004213" ixy="-0.00000001491" ixz="0" iyy="0.00000050258" iyz="0" izz="0.00000054007"/>
    </inertial>
  </link>
  <gazebo reference="finger_middle_link_paramedian_hinge">
    <mu1>1.1</mu1>
    <mu2>1.1</mu2>
  </gazebo>
  <!-- Link median bar underactuated -->
  <link name="finger_middle_link_median_bar_underactuated">
    <visual>
      <origin rpy="0 0 0" xyz="0.01905 0 0"/>
      <geometry>
        <box size="0.0381 .0075 .002"/>
      </geometry>
    </visual>
    <collision>
      <origin rpy="0 0 0" xyz="0.01905 0 0"/>
      <geometry>
        <box size="0.0381 .0075 .002"/>
      </geometry>
    </collision>
    <inertial>
      <origin rpy="0 0 0" xyz="0.01905 -0.00107 0"/>
      <mass value="0.00538"/>
      <inertia ixx="0.00000006639" ixy="-0.00000010996" ixz="-0.00000000094" iyy="0.00000305318" iyz="0" izz="0.00000304657"/>
    </inertial>
  </link>
  <gazebo reference="finger_middle_link_median_bar_underactuated">
    <mu1>1.1</mu1>
    <mu2>1.1</mu2>
  </gazebo>
  <!-- Link paradistal hinge -->
  <link name="finger_middle_link_paradistal_hinge">
    <visual>
      <origin rpy="0 0 0" xyz="0 0 0"/>
      <geometry>
        <box size=".02 .02 .002"/>
      </geometry>
    </visual>
    <collision>
      <origin rpy="0 0 0" xyz="0 0 0"/>
      <geometry>
        <box size=".02 0.02 .002"/>
      </geometry>
    </collision>
    <inertial>
      <origin rpy="0 0 0" xyz="0.00548 0 0"/>
      <mass value="0.00158"/>
      <inertia ixx="0.00000001907" ixy="0" ixz="0" iyy="0.00000010970" iyz="0" izz="0.00000012610"/>
    </inertial>
  </link>
  <gazebo reference="finger_middle_link_paradistal_hinge">
    <mu1>1.1</mu1>
    <mu2>1.1</mu2>
  </gazebo>
  <!-- End of link list -->
  <!-- Joint list -->
  <!-- Joint proximal actuating hinge -->
  <joint name="finger_middle_joint_proximal_actuating_hinge" type="revolute">
    <parent link="finger_middle_link_0"/>
    <child link="finger_middle_link_proximal_actuating_hinge"/>
    <axis xyz="0 0 1"/>
    <origin rpy="0 0 -2.0906" xyz="0 0 0.01"/>
    <limit effort="100" lower="-3.1416" upper="3.1416" velocity="100"/>
  </joint>
  <gazebo reference="finger_middle_joint_proximal_actuating_hinge">
    <implicitSpringDamper>1</implicitSpringDamper>
  </gazebo>
  <!-- Joint paraproximal actuating hinge -->
  <joint name="finger_middle_joint_paraproximal_actuating_hinge" type="revolute">
    <parent link="finger_middle_link_0"/>
    <child link="finger_middle_link_paraproximal_actuating_hinge"/>
    <axis xyz="0 0 1"/>
    <origin rpy="0 0 -2.0906" xyz="0 0 -0.01"/>
    <limit effort="100" lower="-3.1416" upper="3.1416" velocity="100"/>
  </joint>
  <gazebo reference="finger_middle_joint_paraproximal_actuating_hinge">
    <implicitSpringDamper>1</implicitSpringDamper>
  </gazebo>
  <!-- Joint proximal actuating bar -->
  <joint name="finger_middle_joint_proximal_actuating_bar" type="revolute">
    <parent link="finger_middle_link_proximal_actuating_hinge"/>
    <child link="finger_middle_link_proximal_actuating_bar"/>
    <axis xyz="0 0 1"/>
    <origin rpy="0 0 1.8616" xyz="0.02858 0 0"/>
    <limit effort="100" lower="-3.1416" upper="3.1416" velocity="100"/>
  </joint>
  <gazebo reference="finger_middle_joint_proximal_actuating_bar">
    <implicitSpringDamper>1</implicitSpringDamper>
  </gazebo>
  <!-- Joint paraproximal bar -->
  <joint name="finger_middle_joint_paraproximal_bar" type="revolute">
    <parent link="finger_middle_link_paraproximal_actuating_hinge"/>
    <child link="finger_middle_link_paraproximal_bar"/>
    <axis xyz="0 0 1"/>
    <origin rpy="0 0 1.57" xyz="0.02286 0 0"/>
    <limit effort="100" lower="-3.1416" upper="3.1416" velocity="100"/>
  </joint>
  <gazebo reference="finger_middle_joint_paraproximal_bar">
    <implicitSpringDamper>1</implicitSpringDamper>
  </gazebo>
  <!-- Joint median actuating hinge -->
  <joint name="finger_middle_joint_median_actuating_hinge" type="revolute">
    <parent link="finger_middle_link_1"/>
    <child link="finger_middle_link_median_actuating_hinge"/>
    <axis xyz="0 0 1"/>
    <origin rpy="0 0 -0.37" xyz="0 0.05715 0.01"/>
    <limit effort="100" lower="-3.1416" upper="3.1416" velocity="100"/>
  </joint>
  <gazebo reference="finger_middle_joint_median_actuating_hinge">
    <implicitSpringDamper>1</implicitSpringDamper>
  </gazebo>
  <!-- Joint paramedian hinge -->
  <joint name="finger_middle_joint_paramedian_hinge" type="revolute">
    <parent link="finger_middle_link_1"/>
    <child link="finger_middle_link_paramedian_hinge"/>
    <axis xyz="0 0 1"/>
    <!-- -0.37 is hand picked, 0.9719 is hand calculated from atan(0.02381/0.01625) -->
    <origin rpy="0 0 0" xyz="0 0.05715 -0.01"/>
    <limit effort="100" lower="-3.1416" upper="3.1416" velocity="100"/>
  </joint>
  <gazebo reference="finger_middle_joint_paramedian_hinge">
    <implicitSpringDamper>1</implicitSpringDamper>
  </gazebo>
  <!-- Joint median actuating hinge median bar -->
  <joint name="finger_middle_joint_median_actuating_hinge_median_bar" type="revolute">
    <parent link="finger_middle_link_median_actuating_hinge"/>
    <child link="finger_middle_link_median_bar"/>
    <axis xyz="0 0 1"/>
    <!-- hand calc 90 deg + atan(0.01516/0.01625) -->
    <origin rpy="0 0 2.3215" xyz="0.01625 0.01516 0"/>
    <limit effort="100" lower="-3.1416" upper="3.1416" velocity="100"/>
  </joint>
  <gazebo reference="finger_middle_joint_median_actuating_hinge_median_bar">
    <implicitSpringDamper>1</implicitSpringDamper>
  </gazebo>
  <!-- Joint paradistal hinge -->
  <joint name="finger_middle_joint_paradistal_hinge" type="revolute">
    <parent link="finger_middle_link_2"/>
    <child link="finger_middle_link_paradistal_hinge"/>
    <axis xyz="0 0 1"/>
    <origin rpy="0 0 0" xyz="0 0.039 -0.01"/>
    <limit effort="100" lower="-3.1416" upper="3.1416" velocity="100"/>
  </joint>
  <gazebo reference="finger_middle_joint_paradistal_hinge">
    <implicitSpringDamper>1</implicitSpringDamper>
  </gazebo>
  <!-- Joint paramedian hinge median bar underactuated -->
  <joint name="finger_middle_joint_paramedian_hinge_median_bar_underactuated" type="revolute">
    <parent link="finger_middle_link_paramedian_hinge"/>
    <child link="finger_middle_link_median_bar_underactuated"/>
    <axis xyz="0 0 1"/>
    <!-- hand calc 90 deg + atan(0.01227/0.00329) -->
    <origin rpy="0 0 1.5708" xyz="0.01227 0.00329 0"/>
    <limit effort="100" lower="-3.1416" upper="3.1416" velocity="100"/>
  </joint>
  <gazebo reference="finger_middle_joint_paramedian_hinge_median_bar_underactuated">
    <implicitSpringDamper>1</implicitSpringDamper>
  </gazebo>
  <!-- Joint 1 -->
  <joint name="finger_middle_joint_1" type="revolute">
    <origin rpy="0 0 -2.0906" xyz="0 0 0"/>
    <axis xyz="0 0 1"/>
    <parent link="finger_middle_link_0"/>
    <child link="finger_middle_link_1"/>
    <dynamics damping="1" friction="0"/>
    <!-- Limits: [0deg.,70deg.] -->
    <limit effort="60" lower="0" upper="1.2217" velocity="-1"/>
  </joint>
  <gazebo reference="finger_middle_joint_1">
    <implicitSpringDamper>1</implicitSpringDamper>
  </gazebo>
  <!-- Joint 2 -->
  <joint name="finger_middle_joint_2" type="revolute">
    <parent link="finger_middle_link_1"/>
    <child link="finger_middle_link_2"/>
    <dynamics damping="1" friction="0"/>
    <axis xyz="0 0 1"/>
    <origin rpy="0 0 0" xyz="0 0.05715 0"/>
    <!-- Limits: [0deg.,90deg.] -->
    <limit effort="60" lower="0" upper="1.5708" velocity="-1"/>
  </joint>
  <gazebo reference="finger_middle_joint_2">
    <implicitSpringDamper>1</implicitSpringDamper>
  </gazebo>
  <!-- Joint 3 -->
  <joint name="finger_middle_joint_3" type="revolute">
    <parent link="finger_middle_link_2"/>
    <child link="finger_middle_link_3"/>
    <dynamics damping="1" friction="0"/>
    <axis xyz="0 0 1"/>
    <origin rpy="0 0 2.0906" xyz="0 0.039 0"/>
    <!-- Limits: [-38deg.,60deg.] -->
    <limit effort="60" lower="-0.6632" upper="1.0471" velocity="-1"/>
  </joint>
  <gazebo reference="finger_middle_joint_3">
    <implicitSpringDamper>1</implicitSpringDamper>
  </gazebo>
  <!-- end of joint list -->
  <!-- coupling joints in sdf -->
  <gazebo>
    <joint name="finger_middle_link_proximal_actuating_bar_median_actuating_hinge_couple" type="revolute">
      <parent>finger_middle_link_median_actuating_hinge</parent>
      <child>finger_middle_link_proximal_actuating_bar</child>
      <pose>0.05398 0 0 0 0 0</pose>
      <axis>
        <dynamics>
          <damping>0</damping>
          <friction>0</friction>
        </dynamics>
        <xyz>0 0 1</xyz>
        <!-- <use_parent_model_frame>false</use_parent_model_frame> -->
      </axis>
    </joint>
  </gazebo>
  <gazebo reference="finger_middle_link_proximal_actuating_bar_median_actuating_hinge_couple">
    <implicitSpringDamper>1</implicitSpringDamper>
  </gazebo>
  <gazebo>
    <joint name="finger_middle_link_median_bar_link_3_couple" type="revolute">
      <parent>finger_middle_link_3</parent>
      <child>finger_middle_link_median_bar</child>
      <pose>0.0381 0 0 0 0 0</pose>
      <axis>
        <dynamics>
          <damping>0</damping>
          <friction>0</friction>
        </dynamics>
        <xyz>0 0 1</xyz>
        <!-- <use_parent_model_frame>false</use_parent_model_frame> -->
      </axis>
    </joint>
  </gazebo>
  <gazebo reference="finger_middle_link_median_bar_link_3_couple">
    <implicitSpringDamper>1</implicitSpringDamper>
  </gazebo>
  <gazebo>
    <joint name="finger_middle_link_paramedian_bar_paradistal_hinge_couple" type="revolute">
      <parent>finger_middle_link_paradistal_hinge</parent>
      <child>finger_middle_link_median_bar_underactuated</child>
      <pose>0.0381 0 0 0 0 0</pose>
      <axis>
        <dynamics>
          <damping>0</damping>
          <friction>0</friction>
        </dynamics>
        <xyz>0 0 1</xyz>
        <!-- <use_parent_model_frame>false</use_parent_model_frame> -->
      </axis>
    </joint>
  </gazebo>
  <gazebo reference="finger_middle_link_median_bar_link_3_couple">
    <implicitSpringDamper>1</implicitSpringDamper>
  </gazebo>
  <gazebo>
    <joint name="finger_middle_link_paradistal_hinge_link_3_couple" type="revolute">
      <parent>finger_middle_link_paradistal_hinge</parent>
      <child>finger_middle_link_3</child>
      <pose>0.0381 0 0 0 0 0</pose>
      <axis>
        <dynamics>
          <damping>0</damping>
          <friction>0</friction>
        </dynamics>
        <xyz>0 0 1</xyz>
        <!-- <use_parent_model_frame>false</use_parent_model_frame> -->
      </axis>
    </joint>
  </gazebo>
  <gazebo reference="finger_middle_link_paradistal_hinge_link_3_couple">
    <implicitSpringDamper>1</implicitSpringDamper>
  </gazebo>
  <gazebo>
    <joint name="finger_middle_link_paraproximal_bar_paramedian_hinge_couple" type="revolute">
      <parent>finger_middle_link_paramedian_hinge</parent>
      <child>finger_middle_link_paraproximal_bar</child>
      <pose>0.05770 0 0 0 0 0</pose>
      <axis>
        <dynamics>
          <damping>0</damping>
          <friction>0</friction>
        </dynamics>
        <xyz>0 0 1</xyz>
        <!-- <use_parent_model_frame>false</use_parent_model_frame> -->
      </axis>
    </joint>
  </gazebo>
  <gazebo reference="finger_middle_link_paraproximal_bar_paramedian_hinge_couple">
    <implicitSpringDamper>1</implicitSpringDamper>
  </gazebo>
  <!-- link list -->
  <!-- Link palm -->
  <link name="palm">
    <visual>
      <geometry>
        <mesh filename="package://robotiq_s_model_visualization/meshes/s-model_articulated/visual/palm.STL"/>
      </geometry>
      <material name="green">
        <color rgba="0 1 0 1"/>
      </material>
    </visual>
    <!-- Simple shape collision -->
    <collision>
      <origin rpy="0 0 0" xyz="0 0 0"/>
      <geometry>
        <box size="0.1 0.1 0.1"/>
      </geometry>
      <material name="yellow">
        <color rgba="0 1 1 1"/>
      </material>
    </collision>
    <inertial>
      <origin rpy="0 0 0" xyz="0 0 0"/>
      <mass value="1.3"/>
      <inertia ixx="0.0035" ixy="0" ixz="-0" iyy="0.0035" iyz="0" izz="0.0035"/>
    </inertial>
  </link>
  <gazebo reference="palm">
    <mu1>1.1</mu1>
    <mu2>1.1</mu2>
  </gazebo>
  <!-- End of link list -->
  <!-- Joint list -->
  <!-- Joint palm_finger_1_joint -->
  <joint name="palm_finger_1_joint" type="revolute">
    <parent link="palm"/>
    <child link="finger_1_link_0"/>
    <dynamics damping="1" friction="0"/>
    <axis xyz="0 1 0"/>
    <origin rpy="0 3.1416 -1.57" xyz="-0.0455 0.0214 0.036"/>
    <!-- Limits: [-17deg.,17deg.] -->
    <limit effort="60" lower="-0.2967" upper="0.2967" velocity="-1"/>
  </joint>
  <gazebo reference="palm_finger_1_joint">
    <implicitSpringDamper>1</implicitSpringDamper>
  </gazebo>
  <!-- Joint palm_finger_2_joint -->
  <joint name="palm_finger_2_joint" type="revolute">
    <parent link="palm"/>
    <child link="finger_2_link_0"/>
    <dynamics damping="1" friction="0"/>
    <axis xyz="0 1 0"/>
    <origin rpy="0 3.1416 -1.57" xyz="-0.0455 0.0214 -0.036"/>
    <!-- Limits: [-17deg.,17deg.] -->
    <limit effort="60" lower="-0.2967" upper="0.2967" velocity="-1"/>
  </joint>
  <gazebo reference="palm_finger_2_joint">
    <implicitSpringDamper>1</implicitSpringDamper>
  </gazebo>
  <!-- Joint palm_finger_middle_joint -->
  <joint name="palm_finger_middle_joint" type="revolute">
    <parent link="palm"/>
    <child link="finger_middle_link_0"/>
    <dynamics damping="1" friction="0"/>
    <axis xyz="0 1 0"/>
    <origin rpy="0 0 1.57" xyz="0.0455 0.0214 0"/>
    <limit effort="60" lower="0" upper="0" velocity="-1"/>
  </joint>
  <gazebo reference="palm_finger_middle_joint">
    <implicitSpringDamper>1</implicitSpringDamper>
  </gazebo>
  <!-- end of joint list -->

</robot>
